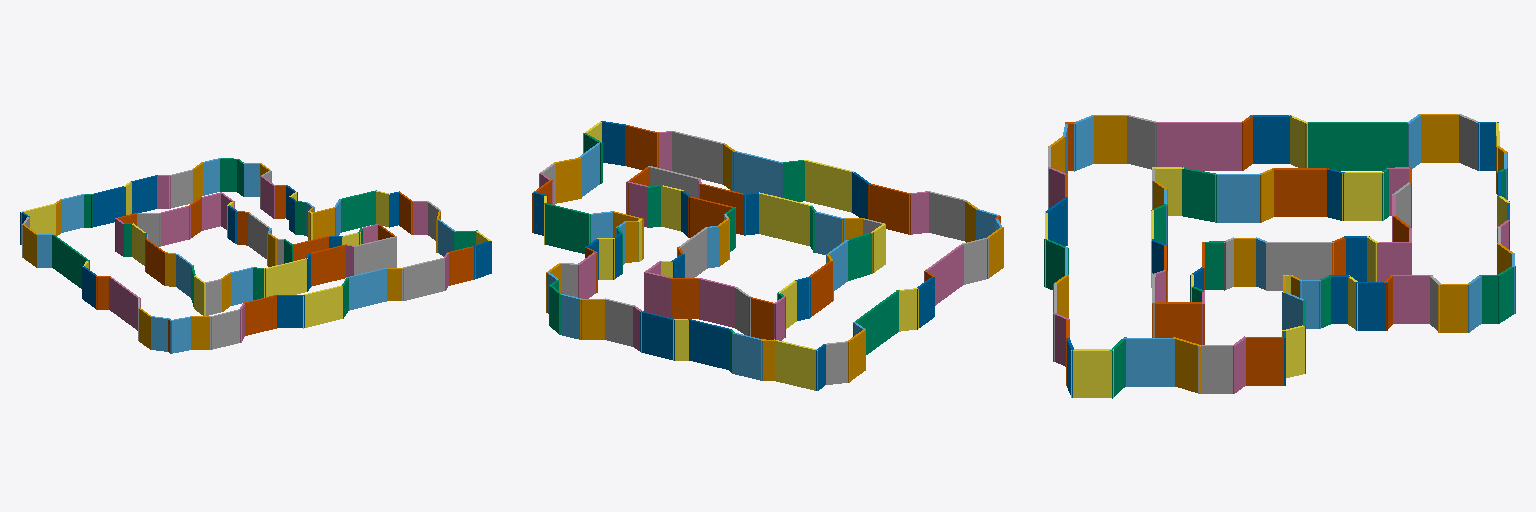
--- What the picture shows (computed from the rendered views, not written in the file) ---
3 views of the same robot in one strip: view 1: azimuth 30°, elevation 25°; view 2: azimuth 150°, elevation 25°; view 3: azimuth 270°, elevation 25° (orthographic).
Robot: custom_hallway — 102 links, 101 joints (101 fixed); root link custom_hallway__Wall_100; default pose: all joints at 0.
Visible links, largest first — view 1: custom_hallway__Wall_136, custom_hallway__Wall_115, custom_hallway__Wall_140, custom_hallway__Wall_138, custom_hallway__Wall_119, custom_hallway__Wall_123, custom_hallway__Wall_117, custom_hallway__Wall_78, custom_hallway__Wall_87, custom_hallway__Wall_142, custom_hallway__Wall_61, custom_hallway__Wall_144 (+23 smaller); view 2: custom_hallway__Wall_115, custom_hallway__Wall_136, custom_hallway__Wall_140, custom_hallway__Wall_138, custom_hallway__Wall_123, custom_hallway__Wall_76, custom_hallway__Wall_78, custom_hallway__Wall_142, custom_hallway__Wall_87, custom_hallway__Wall_144, custom_hallway__Wall_61, custom_hallway__Wall_69 (+28 smaller); view 3: custom_hallway__Wall_87, custom_hallway__Wall_91, custom_hallway__Wall_99, custom_hallway__Wall_41, custom_hallway__Wall_130, custom_hallway__Wall_101, custom_hallway__Wall_132, custom_hallway__Wall_97, custom_hallway__Wall_7, custom_hallway__Wall_85, custom_hallway__Wall_126, custom_hallway__Wall_50 (+28 smaller).
Boxes of the visible links, left/top/right/bottom form: custom_hallway__Wall_136: left=402, top=258, right=444, bottom=300; custom_hallway__Wall_115: left=264, top=258, right=307, bottom=297; custom_hallway__Wall_140: left=303, top=285, right=342, bottom=328; custom_hallway__Wall_138: left=346, top=268, right=386, bottom=310; custom_hallway__Wall_119: left=353, top=236, right=396, bottom=274; custom_hallway__Wall_123: left=339, top=190, right=376, bottom=232; custom_hallway__Wall_117: left=311, top=244, right=346, bottom=286; custom_hallway__Wall_78: left=91, top=186, right=125, bottom=227; custom_hallway__Wall_87: left=52, top=235, right=89, bottom=288; custom_hallway__Wall_142: left=244, top=295, right=276, bottom=335; custom_hallway__Wall_61: left=159, top=206, right=190, bottom=246; custom_hallway__Wall_144: left=210, top=309, right=241, bottom=349; custom_hallway__Wall_115: left=759, top=192, right=812, bottom=245; custom_hallway__Wall_136: left=672, top=131, right=724, bottom=184; custom_hallway__Wall_140: left=804, top=160, right=853, bottom=212; custom_hallway__Wall_138: left=732, top=151, right=782, bottom=197; custom_hallway__Wall_123: left=544, top=203, right=590, bottom=253; custom_hallway__Wall_76: left=774, top=339, right=817, bottom=390; custom_hallway__Wall_78: left=688, top=319, right=731, bottom=369; custom_hallway__Wall_142: left=868, top=184, right=911, bottom=234; custom_hallway__Wall_87: left=853, top=290, right=899, bottom=354; custom_hallway__Wall_144: left=928, top=191, right=966, bottom=240; custom_hallway__Wall_61: left=698, top=278, right=736, bottom=327; custom_hallway__Wall_69: left=640, top=311, right=674, bottom=360; custom_hallway__Wall_87: left=1305, top=122, right=1407, bottom=170; custom_hallway__Wall_91: left=1155, top=122, right=1241, bottom=170; custom_hallway__Wall_99: left=1272, top=168, right=1328, bottom=216; custom_hallway__Wall_41: left=1266, top=242, right=1333, bottom=290; custom_hallway__Wall_130: left=1123, top=338, right=1174, bottom=386; custom_hallway__Wall_101: left=1215, top=174, right=1261, bottom=222; custom_hallway__Wall_132: left=1071, top=349, right=1113, bottom=397; custom_hallway__Wall_97: left=1342, top=172, right=1383, bottom=220; custom_hallway__Wall_7: left=1152, top=302, right=1204, bottom=344; custom_hallway__Wall_85: left=1419, top=114, right=1458, bottom=162; custom_hallway__Wall_126: left=1246, top=337, right=1283, bottom=385; custom_hallway__Wall_50: left=1391, top=275, right=1432, bottom=323.
Size in the robot's own frame: 26.75 by 22.42 by 2.5 metres.
Geometry: primitives only (box / cylinder / sphere), no mesh files.

URDF robot description (custom_hallway):
<?xml version="1.0" ?>
<robot name="custom_hallway">
  <link name="custom_hallway__Wall_100">
    <inertial>
      <mass value="0"/>
      <origin rpy="0  0  0" xyz="0  0  0"/>
      <inertia ixx="0" ixy="0" ixz="0" iyy="0" iyz="0" izz="0"/>
    </inertial>
    <collision name="custom_hallway__Wall_100_Collision">
      <origin rpy="0       0      -0.78539" xyz="-9.07255 -3.12646  1.25"/>
      <geometry>
        <box size="1 0.15 2.5"/>
      </geometry>
    </collision>
    <visual name="custom_hallway__Wall_100_Visual">
      <origin rpy="0       0      -0.78539" xyz="-9.07255 -3.12646  1.25"/>
      <geometry>
        <box size="1 0.15 2.5"/>
      </geometry>
    </visual>
  </link>
  <link name="custom_hallway__Wall_101">
    <inertial>
      <mass value="0"/>
      <origin rpy="0  0  0" xyz="0  0  0"/>
      <inertia ixx="0" ixy="0" ixz="0" iyy="0" iyz="0" izz="0"/>
    </inertial>
    <collision name="custom_hallway__Wall_101_Collision">
      <origin rpy="0      0     -1.5708" xyz="-8.77204 -4.47698  1.25"/>
      <geometry>
        <box size="2.25 0.15 2.5"/>
      </geometry>
    </collision>
    <visual name="custom_hallway__Wall_101_Visual">
      <origin rpy="0      0     -1.5708" xyz="-8.77204 -4.47698  1.25"/>
      <geometry>
        <box size="2.25 0.15 2.5"/>
      </geometry>
    </visual>
  </link>
  <link name="custom_hallway__Wall_102">
    <inertial>
      <mass value="0"/>
      <origin rpy="0  0  0" xyz="0  0  0"/>
      <inertia ixx="0" ixy="0" ixz="0" iyy="0" iyz="0" izz="0"/>
    </inertial>
    <collision name="custom_hallway__Wall_102_Collision">
      <origin rpy="0       0      -1.98351" xyz="-9.12803 -6.34003  1.25"/>
      <geometry>
        <box size="1.92514 0.15 2.5"/>
      </geometry>
    </collision>
    <visual name="custom_hallway__Wall_102_Visual">
      <origin rpy="0       0      -1.98351" xyz="-9.12803 -6.34003  1.25"/>
      <geometry>
        <box size="1.92514 0.15 2.5"/>
      </geometry>
    </visual>
  </link>
  <link name="custom_hallway__Wall_103">
    <inertial>
      <mass value="0"/>
      <origin rpy="0  0  0" xyz="0  0  0"/>
      <inertia ixx="0" ixy="0" ixz="0" iyy="0" iyz="0" izz="0"/>
    </inertial>
    <collision name="custom_hallway__Wall_103_Collision">
      <origin rpy="0      0     -1.5708" xyz="-9.48403 -7.82807  1.25"/>
      <geometry>
        <box size="1.5 0.15 2.5"/>
      </geometry>
    </collision>
    <visual name="custom_hallway__Wall_103_Visual">
      <origin rpy="0      0     -1.5708" xyz="-9.48403 -7.82807  1.25"/>
      <geometry>
        <box size="1.5 0.15 2.5"/>
      </geometry>
    </visual>
  </link>
  <link name="custom_hallway__Wall_105">
    <inertial>
      <mass value="0"/>
      <origin rpy="0  0  0" xyz="0  0  0"/>
      <inertia ixx="0" ixy="0" ixz="0" iyy="0" iyz="0" izz="0"/>
    </inertial>
    <collision name="custom_hallway__Wall_105_Collision">
      <origin rpy="0       0      -1.54263" xyz="-14.58992   7.41998   1.25"/>
      <geometry>
        <box size="1.02334 0.15 2.5"/>
      </geometry>
    </collision>
    <visual name="custom_hallway__Wall_105_Visual">
      <origin rpy="0       0      -1.54263" xyz="-14.58992   7.41998   1.25"/>
      <geometry>
        <box size="1.02334 0.15 2.5"/>
      </geometry>
    </visual>
  </link>
  <link name="custom_hallway__Wall_107">
    <inertial>
      <mass value="0"/>
      <origin rpy="0  0  0" xyz="0  0  0"/>
      <inertia ixx="0" ixy="0" ixz="0" iyy="0" iyz="0" izz="0"/>
    </inertial>
    <collision name="custom_hallway__Wall_107_Collision">
      <origin rpy="0      0      1.5708" xyz="-14.54872 -12.46056   1.25"/>
      <geometry>
        <box size="0.5 0.15 2.5"/>
      </geometry>
    </collision>
    <visual name="custom_hallway__Wall_107_Visual">
      <origin rpy="0      0      1.5708" xyz="-14.54872 -12.46056   1.25"/>
      <geometry>
        <box size="0.5 0.15 2.5"/>
      </geometry>
    </visual>
  </link>
  <link name="custom_hallway__Wall_109">
    <inertial>
      <mass value="0"/>
      <origin rpy="0  0  0" xyz="0  0  0"/>
      <inertia ixx="0" ixy="0" ixz="0" iyy="0" iyz="0" izz="0"/>
    </inertial>
    <collision name="custom_hallway__Wall_109_Collision">
      <origin rpy="0       0      -1.55503" xyz="-9.47586  3.17856  1.25"/>
      <geometry>
        <box size="1.18687 0.15 2.5"/>
      </geometry>
    </collision>
    <visual name="custom_hallway__Wall_109_Visual">
      <origin rpy="0       0      -1.55503" xyz="-9.47586  3.17856  1.25"/>
      <geometry>
        <box size="1.18687 0.15 2.5"/>
      </geometry>
    </visual>
  </link>
  <link name="custom_hallway__Wall_111">
    <inertial>
      <mass value="0"/>
      <origin rpy="0  0  0" xyz="0  0  0"/>
      <inertia ixx="0" ixy="0" ixz="0" iyy="0" iyz="0" izz="0"/>
    </inertial>
    <collision name="custom_hallway__Wall_111_Collision">
      <origin rpy="0  0  0" xyz="-8.80903 -8.50306  1.25"/>
      <geometry>
        <box size="1.5 0.15 2.5"/>
      </geometry>
    </collision>
    <visual name="custom_hallway__Wall_111_Visual">
      <origin rpy="0  0  0" xyz="-8.80903 -8.50306  1.25"/>
      <geometry>
        <box size="1.5 0.15 2.5"/>
      </geometry>
    </visual>
  </link>
  <link name="custom_hallway__Wall_112">
    <inertial>
      <mass value="0"/>
      <origin rpy="0  0  0" xyz="0  0  0"/>
      <inertia ixx="0" ixy="0" ixz="0" iyy="0" iyz="0" izz="0"/>
    </inertial>
    <collision name="custom_hallway__Wall_112_Collision">
      <origin rpy="0       0       0.52359" xyz="-7.65772 -8.22807  1.25"/>
      <geometry>
        <box size="1.25 0.15 2.5"/>
      </geometry>
    </collision>
    <visual name="custom_hallway__Wall_112_Visual">
      <origin rpy="0       0       0.52359" xyz="-7.65772 -8.22807  1.25"/>
      <geometry>
        <box size="1.25 0.15 2.5"/>
      </geometry>
    </visual>
  </link>
  <link name="custom_hallway__Wall_113">
    <inertial>
      <mass value="0"/>
      <origin rpy="0  0  0" xyz="0  0  0"/>
      <inertia ixx="0" ixy="0" ixz="0" iyy="0" iyz="0" izz="0"/>
    </inertial>
    <collision name="custom_hallway__Wall_113_Collision">
      <origin rpy="0  0  0" xyz="-6.2564  -7.95307  1.25"/>
      <geometry>
        <box size="2 0.15 2.5"/>
      </geometry>
    </collision>
    <visual name="custom_hallway__Wall_113_Visual">
      <origin rpy="0  0  0" xyz="-6.2564  -7.95307  1.25"/>
      <geometry>
        <box size="2 0.15 2.5"/>
      </geometry>
    </visual>
  </link>
  <link name="custom_hallway__Wall_114">
    <inertial>
      <mass value="0"/>
      <origin rpy="0  0  0" xyz="0  0  0"/>
      <inertia ixx="0" ixy="0" ixz="0" iyy="0" iyz="0" izz="0"/>
    </inertial>
    <collision name="custom_hallway__Wall_114_Collision">
      <origin rpy="0       0      -0.78539" xyz="-5.03089 -8.25359  1.25"/>
      <geometry>
        <box size="1 0.15 2.5"/>
      </geometry>
    </collision>
    <visual name="custom_hallway__Wall_114_Visual">
      <origin rpy="0       0      -0.78539" xyz="-5.03089 -8.25359  1.25"/>
      <geometry>
        <box size="1 0.15 2.5"/>
      </geometry>
    </visual>
  </link>
  <link name="custom_hallway__Wall_115">
    <inertial>
      <mass value="0"/>
      <origin rpy="0  0  0" xyz="0  0  0"/>
      <inertia ixx="0" ixy="0" ixz="0" iyy="0" iyz="0" izz="0"/>
    </inertial>
    <collision name="custom_hallway__Wall_115_Collision">
      <origin rpy="0  0  0" xyz="-3.05536 -8.55411  1.25"/>
      <geometry>
        <box size="3.5 0.15 2.5"/>
      </geometry>
    </collision>
    <visual name="custom_hallway__Wall_115_Visual">
      <origin rpy="0  0  0" xyz="-3.05536 -8.55411  1.25"/>
      <geometry>
        <box size="3.5 0.15 2.5"/>
      </geometry>
    </visual>
  </link>
  <link name="custom_hallway__Wall_116">
    <inertial>
      <mass value="0"/>
      <origin rpy="0  0  0" xyz="0  0  0"/>
      <inertia ixx="0" ixy="0" ixz="0" iyy="0" iyz="0" izz="0"/>
    </inertial>
    <collision name="custom_hallway__Wall_116_Collision">
      <origin rpy="0       0       0.78539" xyz="-1.07983 -8.25359  1.25"/>
      <geometry>
        <box size="1 0.15 2.5"/>
      </geometry>
    </collision>
    <visual name="custom_hallway__Wall_116_Visual">
      <origin rpy="0       0       0.78539" xyz="-1.07983 -8.25359  1.25"/>
      <geometry>
        <box size="1 0.15 2.5"/>
      </geometry>
    </visual>
  </link>
  <link name="custom_hallway__Wall_117">
    <inertial>
      <mass value="0"/>
      <origin rpy="0  0  0" xyz="0  0  0"/>
      <inertia ixx="0" ixy="0" ixz="0" iyy="0" iyz="0" izz="0"/>
    </inertial>
    <collision name="custom_hallway__Wall_117_Collision">
      <origin rpy="0  0  0" xyz="0.64568 -7.95307  1.25"/>
      <geometry>
        <box size="3 0.15 2.5"/>
      </geometry>
    </collision>
    <visual name="custom_hallway__Wall_117_Visual">
      <origin rpy="0  0  0" xyz="0.64568 -7.95307  1.25"/>
      <geometry>
        <box size="3 0.15 2.5"/>
      </geometry>
    </visual>
  </link>
  <link name="custom_hallway__Wall_118">
    <inertial>
      <mass value="0"/>
      <origin rpy="0  0  0" xyz="0  0  0"/>
      <inertia ixx="0" ixy="0" ixz="0" iyy="0" iyz="0" izz="0"/>
    </inertial>
    <collision name="custom_hallway__Wall_118_Collision">
      <origin rpy="0       0      -0.92384" xyz="2.26694 -8.21288  1.25"/>
      <geometry>
        <box size="0.80121 0.15 2.5"/>
      </geometry>
    </collision>
    <visual name="custom_hallway__Wall_118_Visual">
      <origin rpy="0       0      -0.92384" xyz="2.26694 -8.21288  1.25"/>
      <geometry>
        <box size="0.80121 0.15 2.5"/>
      </geometry>
    </visual>
  </link>
  <link name="custom_hallway__Wall_119">
    <inertial>
      <mass value="0"/>
      <origin rpy="0  0  0" xyz="0  0  0"/>
      <inertia ixx="0" ixy="0" ixz="0" iyy="0" iyz="0" izz="0"/>
    </inertial>
    <collision name="custom_hallway__Wall_119_Collision">
      <origin rpy="0       0      -0.00936" xyz="4.08584 -8.51101  1.25"/>
      <geometry>
        <box size="3.39543 0.15 2.5"/>
      </geometry>
    </collision>
    <visual name="custom_hallway__Wall_119_Visual">
      <origin rpy="0       0      -0.00936" xyz="4.08584 -8.51101  1.25"/>
      <geometry>
        <box size="3.39543 0.15 2.5"/>
      </geometry>
    </visual>
  </link>
  <link name="custom_hallway__Wall_121">
    <inertial>
      <mass value="0"/>
      <origin rpy="0  0  0" xyz="0  0  0"/>
      <inertia ixx="0" ixy="0" ixz="0" iyy="0" iyz="0" izz="0"/>
    </inertial>
    <collision name="custom_hallway__Wall_121_Collision">
      <origin rpy="0  0  0" xyz="3.54097 -2.30307  1.25"/>
      <geometry>
        <box size="2 0.15 2.5"/>
      </geometry>
    </collision>
    <visual name="custom_hallway__Wall_121_Visual">
      <origin rpy="0  0  0" xyz="3.54097 -2.30307  1.25"/>
      <geometry>
        <box size="2 0.15 2.5"/>
      </geometry>
    </visual>
  </link>
  <link name="custom_hallway__Wall_122">
    <inertial>
      <mass value="0"/>
      <origin rpy="0  0  0" xyz="0  0  0"/>
      <inertia ixx="0" ixy="0" ixz="0" iyy="0" iyz="0" izz="0"/>
    </inertial>
    <collision name="custom_hallway__Wall_122_Collision">
      <origin rpy="0       0       0.78539" xyz="4.94326 -1.82577  1.25"/>
      <geometry>
        <box size="1.5 0.15 2.5"/>
      </geometry>
    </collision>
    <visual name="custom_hallway__Wall_122_Visual">
      <origin rpy="0       0       0.78539" xyz="4.94326 -1.82577  1.25"/>
      <geometry>
        <box size="1.5 0.15 2.5"/>
      </geometry>
    </visual>
  </link>
  <link name="custom_hallway__Wall_123">
    <inertial>
      <mass value="0"/>
      <origin rpy="0  0  0" xyz="0  0  0"/>
      <inertia ixx="0" ixy="0" ixz="0" iyy="0" iyz="0" izz="0"/>
    </inertial>
    <collision name="custom_hallway__Wall_123_Collision">
      <origin rpy="0  0  0" xyz="6.84556 -1.34848  1.25"/>
      <geometry>
        <box size="3 0.15 2.5"/>
      </geometry>
    </collision>
    <visual name="custom_hallway__Wall_123_Visual">
      <origin rpy="0  0  0" xyz="6.84556 -1.34848  1.25"/>
      <geometry>
        <box size="3 0.15 2.5"/>
      </geometry>
    </visual>
  </link>
  <link name="custom_hallway__Wall_124">
    <inertial>
      <mass value="0"/>
      <origin rpy="0  0  0" xyz="0  0  0"/>
      <inertia ixx="0" ixy="0" ixz="0" iyy="0" iyz="0" izz="0"/>
    </inertial>
    <collision name="custom_hallway__Wall_124_Collision">
      <origin rpy="0       0      -1.04719" xyz="8.54557 -1.82479  1.25"/>
      <geometry>
        <box size="1.25 0.15 2.5"/>
      </geometry>
    </collision>
    <visual name="custom_hallway__Wall_124_Visual">
      <origin rpy="0       0      -1.04719" xyz="8.54557 -1.82479  1.25"/>
      <geometry>
        <box size="1.25 0.15 2.5"/>
      </geometry>
    </visual>
  </link>
  <link name="custom_hallway__Wall_125">
    <inertial>
      <mass value="0"/>
      <origin rpy="0  0  0" xyz="0  0  0"/>
      <inertia ixx="0" ixy="0" ixz="0" iyy="0" iyz="0" izz="0"/>
    </inertial>
    <collision name="custom_hallway__Wall_125_Collision">
      <origin rpy="0       0      -0.00263" xyz="9.19328 -2.30208  1.25"/>
      <geometry>
        <box size="0.895408 0.15 2.5"/>
      </geometry>
    </collision>
    <visual name="custom_hallway__Wall_125_Visual">
      <origin rpy="0       0      -0.00263" xyz="9.19328 -2.30208  1.25"/>
      <geometry>
        <box size="0.895408 0.15 2.5"/>
      </geometry>
    </visual>
  </link>
  <link name="custom_hallway__Wall_126">
    <inertial>
      <mass value="0"/>
      <origin rpy="0  0  0" xyz="0  0  0"/>
      <inertia ixx="0" ixy="0" ixz="0" iyy="0" iyz="0" izz="0"/>
    </inertial>
    <collision name="custom_hallway__Wall_126_Collision">
      <origin rpy="0      0     -1.5708" xyz="9.56598 -3.22807  1.25"/>
      <geometry>
        <box size="2 0.15 2.5"/>
      </geometry>
    </collision>
    <visual name="custom_hallway__Wall_126_Visual">
      <origin rpy="0      0     -1.5708" xyz="9.56598 -3.22807  1.25"/>
      <geometry>
        <box size="2 0.15 2.5"/>
      </geometry>
    </visual>
  </link>
  <link name="custom_hallway__Wall_127">
    <inertial>
      <mass value="0"/>
      <origin rpy="0  0  0" xyz="0  0  0"/>
      <inertia ixx="0" ixy="0" ixz="0" iyy="0" iyz="0" izz="0"/>
    </inertial>
    <collision name="custom_hallway__Wall_127_Collision">
      <origin rpy="0       0      -0.52359" xyz="10.04228  -4.42807   1.25"/>
      <geometry>
        <box size="1.25 0.15 2.5"/>
      </geometry>
    </collision>
    <visual name="custom_hallway__Wall_127_Visual">
      <origin rpy="0       0      -0.52359" xyz="10.04228  -4.42807   1.25"/>
      <geometry>
        <box size="1.25 0.15 2.5"/>
      </geometry>
    </visual>
  </link>
  <link name="custom_hallway__Wall_128">
    <inertial>
      <mass value="0"/>
      <origin rpy="0  0  0" xyz="0  0  0"/>
      <inertia ixx="0" ixy="0" ixz="0" iyy="0" iyz="0" izz="0"/>
    </inertial>
    <collision name="custom_hallway__Wall_128_Collision">
      <origin rpy="0      0     -1.5708" xyz="10.51858  -5.50307   1.25"/>
      <geometry>
        <box size="1.75 0.15 2.5"/>
      </geometry>
    </collision>
    <visual name="custom_hallway__Wall_128_Visual">
      <origin rpy="0      0     -1.5708" xyz="10.51858  -5.50307   1.25"/>
      <geometry>
        <box size="1.75 0.15 2.5"/>
      </geometry>
    </visual>
  </link>
  <link name="custom_hallway__Wall_129">
    <inertial>
      <mass value="0"/>
      <origin rpy="0  0  0" xyz="0  0  0"/>
      <inertia ixx="0" ixy="0" ixz="0" iyy="0" iyz="0" izz="0"/>
    </inertial>
    <collision name="custom_hallway__Wall_129_Collision">
      <origin rpy="0      0     -2.1995" xyz="10.07408  -6.91439   1.25"/>
      <geometry>
        <box size="1.66168 0.15 2.5"/>
      </geometry>
    </collision>
    <visual name="custom_hallway__Wall_129_Visual">
      <origin rpy="0      0     -2.1995" xyz="10.07408  -6.91439   1.25"/>
      <geometry>
        <box size="1.66168 0.15 2.5"/>
      </geometry>
    </visual>
  </link>
  <link name="custom_hallway__Wall_130">
    <inertial>
      <mass value="0"/>
      <origin rpy="0  0  0" xyz="0  0  0"/>
      <inertia ixx="0" ixy="0" ixz="0" iyy="0" iyz="0" izz="0"/>
    </inertial>
    <collision name="custom_hallway__Wall_130_Collision">
      <origin rpy="0      0     -1.5708" xyz="9.68308 -8.70071  1.25"/>
      <geometry>
        <box size="2.5 0.15 2.5"/>
      </geometry>
    </collision>
    <visual name="custom_hallway__Wall_130_Visual">
      <origin rpy="0      0     -1.5708" xyz="9.68308 -8.70071  1.25"/>
      <geometry>
        <box size="2.5 0.15 2.5"/>
      </geometry>
    </visual>
  </link>
  <link name="custom_hallway__Wall_131">
    <inertial>
      <mass value="0"/>
      <origin rpy="0  0  0" xyz="0  0  0"/>
      <inertia ixx="0" ixy="0" ixz="0" iyy="0" iyz="0" izz="0"/>
    </inertial>
    <collision name="custom_hallway__Wall_131_Collision">
      <origin rpy="0      0     -0.4223" xyz="10.32118 -10.18646   1.25"/>
      <geometry>
        <box size="1.66636 0.15 2.5"/>
      </geometry>
    </collision>
    <visual name="custom_hallway__Wall_131_Visual">
      <origin rpy="0      0     -0.4223" xyz="10.32118 -10.18646   1.25"/>
      <geometry>
        <box size="1.66636 0.15 2.5"/>
      </geometry>
    </visual>
  </link>
  <link name="custom_hallway__Wall_132">
    <inertial>
      <mass value="0"/>
      <origin rpy="0  0  0" xyz="0  0  0"/>
      <inertia ixx="0" ixy="0" ixz="0" iyy="0" iyz="0" izz="0"/>
    </inertial>
    <collision name="custom_hallway__Wall_132_Collision">
      <origin rpy="0      0     -1.5708" xyz="11.01268 -11.42221   1.25"/>
      <geometry>
        <box size="2 0.15 2.5"/>
      </geometry>
    </collision>
    <visual name="custom_hallway__Wall_132_Visual">
      <origin rpy="0      0     -1.5708" xyz="11.01268 -11.42221   1.25"/>
      <geometry>
        <box size="2 0.15 2.5"/>
      </geometry>
    </visual>
  </link>
  <link name="custom_hallway__Wall_133">
    <inertial>
      <mass value="0"/>
      <origin rpy="0  0  0" xyz="0  0  0"/>
      <inertia ixx="0" ixy="0" ixz="0" iyy="0" iyz="0" izz="0"/>
    </inertial>
    <collision name="custom_hallway__Wall_133_Collision">
      <origin rpy="0       0      -2.96594" xyz="10.31438 -12.47115   1.25"/>
      <geometry>
        <box size="1.56859 0.15 2.5"/>
      </geometry>
    </collision>
    <visual name="custom_hallway__Wall_133_Visual">
      <origin rpy="0       0      -2.96594" xyz="10.31438 -12.47115   1.25"/>
      <geometry>
        <box size="1.56859 0.15 2.5"/>
      </geometry>
    </visual>
  </link>
  <link name="custom_hallway__Wall_134">
    <inertial>
      <mass value="0"/>
      <origin rpy="0  0  0" xyz="0  0  0"/>
      <inertia ixx="0" ixy="0" ixz="0" iyy="0" iyz="0" izz="0"/>
    </inertial>
    <collision name="custom_hallway__Wall_134_Collision">
      <origin rpy="0       0       3.14159" xyz="8.56598 -12.59506   1.25"/>
      <geometry>
        <box size="2.25 0.15 2.5"/>
      </geometry>
    </collision>
    <visual name="custom_hallway__Wall_134_Visual">
      <origin rpy="0       0       3.14159" xyz="8.56598 -12.59506   1.25"/>
      <geometry>
        <box size="2.25 0.15 2.5"/>
      </geometry>
    </visual>
  </link>
  <link name="custom_hallway__Wall_135">
    <inertial>
      <mass value="0"/>
      <origin rpy="0  0  0" xyz="0  0  0"/>
      <inertia ixx="0" ixy="0" ixz="0" iyy="0" iyz="0" izz="0"/>
    </inertial>
    <collision name="custom_hallway__Wall_135_Collision">
      <origin rpy="0       0      -2.35618" xyz="7.21545 -12.89566   1.25"/>
      <geometry>
        <box size="1 0.15 2.5"/>
      </geometry>
    </collision>
    <visual name="custom_hallway__Wall_135_Visual">
      <origin rpy="0       0      -2.35618" xyz="7.21545 -12.89566   1.25"/>
      <geometry>
        <box size="1 0.15 2.5"/>
      </geometry>
    </visual>
  </link>
  <link name="custom_hallway__Wall_136">
    <inertial>
      <mass value="0"/>
      <origin rpy="0  0  0" xyz="0  0  0"/>
      <inertia ixx="0" ixy="0" ixz="0" iyy="0" iyz="0" izz="0"/>
    </inertial>
    <collision name="custom_hallway__Wall_136_Collision">
      <origin rpy="0       0       3.14159" xyz="5.23993 -13.19616   1.25"/>
      <geometry>
        <box size="3.5 0.15 2.5"/>
      </geometry>
    </collision>
    <visual name="custom_hallway__Wall_136_Visual">
      <origin rpy="0       0       3.14159" xyz="5.23993 -13.19616   1.25"/>
      <geometry>
        <box size="3.5 0.15 2.5"/>
      </geometry>
    </visual>
  </link>
  <link name="custom_hallway__Wall_137">
    <inertial>
      <mass value="0"/>
      <origin rpy="0  0  0" xyz="0  0  0"/>
      <inertia ixx="0" ixy="0" ixz="0" iyy="0" iyz="0" izz="0"/>
    </inertial>
    <collision name="custom_hallway__Wall_137_Collision">
      <origin rpy="0       0       2.61798" xyz="3.08861 -12.92116   1.25"/>
      <geometry>
        <box size="1.25 0.15 2.5"/>
      </geometry>
    </collision>
    <visual name="custom_hallway__Wall_137_Visual">
      <origin rpy="0       0       2.61798" xyz="3.08861 -12.92116   1.25"/>
      <geometry>
        <box size="1.25 0.15 2.5"/>
      </geometry>
    </visual>
  </link>
  <link name="custom_hallway__Wall_138">
    <inertial>
      <mass value="0"/>
      <origin rpy="0  0  0" xyz="0  0  0"/>
      <inertia ixx="0" ixy="0" ixz="0" iyy="0" iyz="0" izz="0"/>
    </inertial>
    <collision name="custom_hallway__Wall_138_Collision">
      <origin rpy="0       0       3.14159" xyz="1.0623  -12.64616   1.25"/>
      <geometry>
        <box size="3.25 0.15 2.5"/>
      </geometry>
    </collision>
    <visual name="custom_hallway__Wall_138_Visual">
      <origin rpy="0       0       3.14159" xyz="1.0623  -12.64616   1.25"/>
      <geometry>
        <box size="3.25 0.15 2.5"/>
      </geometry>
    </visual>
  </link>
  <link name="custom_hallway__Wall_139">
    <inertial>
      <mass value="0"/>
      <origin rpy="0  0  0" xyz="0  0  0"/>
      <inertia ixx="0" ixy="0" ixz="0" iyy="0" iyz="0" izz="0"/>
    </inertial>
    <collision name="custom_hallway__Wall_139_Collision">
      <origin rpy="0       0      -2.35618" xyz="-0.965   -13.12346   1.25"/>
      <geometry>
        <box size="1.5 0.15 2.5"/>
      </geometry>
    </collision>
    <visual name="custom_hallway__Wall_139_Visual">
      <origin rpy="0       0      -2.35618" xyz="-0.965   -13.12346   1.25"/>
      <geometry>
        <box size="1.5 0.15 2.5"/>
      </geometry>
    </visual>
  </link>
  <link name="custom_hallway__Wall_140">
    <inertial>
      <mass value="0"/>
      <origin rpy="0  0  0" xyz="0  0  0"/>
      <inertia ixx="0" ixy="0" ixz="0" iyy="0" iyz="0" izz="0"/>
    </inertial>
    <collision name="custom_hallway__Wall_140_Collision">
      <origin rpy="0       0       3.14159" xyz="-2.99229 -13.60076   1.25"/>
      <geometry>
        <box size="3.25 0.15 2.5"/>
      </geometry>
    </collision>
    <visual name="custom_hallway__Wall_140_Visual">
      <origin rpy="0       0       3.14159" xyz="-2.99229 -13.60076   1.25"/>
      <geometry>
        <box size="3.25 0.15 2.5"/>
      </geometry>
    </visual>
  </link>
  <link name="custom_hallway__Wall_141">
    <inertial>
      <mass value="0"/>
      <origin rpy="0  0  0" xyz="0  0  0"/>
      <inertia ixx="0" ixy="0" ixz="0" iyy="0" iyz="0" izz="0"/>
    </inertial>
    <collision name="custom_hallway__Wall_141_Collision">
      <origin rpy="0       0       2.61798" xyz="-5.34337 -13.13826   1.25"/>
      <geometry>
        <box size="2 0.15 2.5"/>
      </geometry>
    </collision>
    <visual name="custom_hallway__Wall_141_Visual">
      <origin rpy="0       0       2.61798" xyz="-5.34337 -13.13826   1.25"/>
      <geometry>
        <box size="2 0.15 2.5"/>
      </geometry>
    </visual>
  </link>
  <link name="custom_hallway__Wall_142">
    <inertial>
      <mass value="0"/>
      <origin rpy="0  0  0" xyz="0  0  0"/>
      <inertia ixx="0" ixy="0" ixz="0" iyy="0" iyz="0" izz="0"/>
    </inertial>
    <collision name="custom_hallway__Wall_142_Collision">
      <origin rpy="0       0       3.14159" xyz="-7.44444 -12.67576   1.25"/>
      <geometry>
        <box size="2.75 0.15 2.5"/>
      </geometry>
    </collision>
    <visual name="custom_hallway__Wall_142_Visual">
      <origin rpy="0       0       3.14159" xyz="-7.44444 -12.67576   1.25"/>
      <geometry>
        <box size="2.75 0.15 2.5"/>
      </geometry>
    </visual>
  </link>
  <link name="custom_hallway__Wall_143">
    <inertial>
      <mass value="0"/>
      <origin rpy="0  0  0" xyz="0  0  0"/>
      <inertia ixx="0" ixy="0" ixz="0" iyy="0" iyz="0" izz="0"/>
    </inertial>
    <collision name="custom_hallway__Wall_143_Collision">
      <origin rpy="0       0      -2.35618" xyz="-9.13335 -13.06466   1.25"/>
      <geometry>
        <box size="1.25 0.15 2.5"/>
      </geometry>
    </collision>
    <visual name="custom_hallway__Wall_143_Visual">
      <origin rpy="0       0      -2.35618" xyz="-9.13335 -13.06466   1.25"/>
      <geometry>
        <box size="1.25 0.15 2.5"/>
      </geometry>
    </visual>
  </link>
  <link name="custom_hallway__Wall_144">
    <inertial>
      <mass value="0"/>
      <origin rpy="0  0  0" xyz="0  0  0"/>
      <inertia ixx="0" ixy="0" ixz="0" iyy="0" iyz="0" izz="0"/>
    </inertial>
    <collision name="custom_hallway__Wall_144_Collision">
      <origin rpy="0       0       3.14159" xyz="-10.69726 -13.45356   1.25"/>
      <geometry>
        <box size="2.5 0.15 2.5"/>
      </geometry>
    </collision>
    <visual name="custom_hallway__Wall_144_Visual">
      <origin rpy="0       0       3.14159" xyz="-10.69726 -13.45356   1.25"/>
      <geometry>
        <box size="2.5 0.15 2.5"/>
      </geometry>
    </visual>
  </link>
  <link name="custom_hallway__Wall_145">
    <inertial>
      <mass value="0"/>
      <origin rpy="0  0  0" xyz="0  0  0"/>
      <inertia ixx="0" ixy="0" ixz="0" iyy="0" iyz="0" izz="0"/>
    </inertial>
    <collision name="custom_hallway__Wall_145_Collision">
      <origin rpy="0       0       2.61798" xyz="-12.45682 -13.11606   1.25"/>
      <geometry>
        <box size="1.5 0.15 2.5"/>
      </geometry>
    </collision>
    <visual name="custom_hallway__Wall_145_Visual">
      <origin rpy="0       0       2.61798" xyz="-12.45682 -13.11606   1.25"/>
      <geometry>
        <box size="1.5 0.15 2.5"/>
      </geometry>
    </visual>
  </link>
  <link name="custom_hallway__Wall_147">
    <inertial>
      <mass value="0"/>
      <origin rpy="0  0  0" xyz="0  0  0"/>
      <inertia ixx="0" ixy="0" ixz="0" iyy="0" iyz="0" izz="0"/>
    </inertial>
    <collision name="custom_hallway__Wall_147_Collision">
      <origin rpy="0       0       3.04701" xyz="-13.79512 -12.70706   1.25"/>
      <geometry>
        <box size="1.66413 0.15 2.5"/>
      </geometry>
    </collision>
    <visual name="custom_hallway__Wall_147_Visual">
      <origin rpy="0       0       3.04701" xyz="-13.79512 -12.70706   1.25"/>
      <geometry>
        <box size="1.66413 0.15 2.5"/>
      </geometry>
    </visual>
  </link>
  <link name="custom_hallway__Wall_21">
    <inertial>
      <mass value="0"/>
      <origin rpy="0  0  0" xyz="0  0  0"/>
      <inertia ixx="0" ixy="0" ixz="0" iyy="0" iyz="0" izz="0"/>
    </inertial>
    <collision name="custom_hallway__Wall_21_Collision">
      <origin rpy="0       0      -2.32565" xyz="4.12281 -6.41156  1.25"/>
      <geometry>
        <box size="0.859757 0.15 2.5"/>
      </geometry>
    </collision>
    <visual name="custom_hallway__Wall_21_Visual">
      <origin rpy="0       0      -2.32565" xyz="4.12281 -6.41156  1.25"/>
      <geometry>
        <box size="0.859757 0.15 2.5"/>
      </geometry>
    </visual>
  </link>
  <link name="custom_hallway__Wall_22">
    <inertial>
      <mass value="0"/>
      <origin rpy="0  0  0" xyz="0  0  0"/>
      <inertia ixx="0" ixy="0" ixz="0" iyy="0" iyz="0" izz="0"/>
    </inertial>
    <collision name="custom_hallway__Wall_22_Collision">
      <origin rpy="0       0       3.14159" xyz="3.20466 -6.67004  1.25"/>
      <geometry>
        <box size="1.5 0.15 2.5"/>
      </geometry>
    </collision>
    <visual name="custom_hallway__Wall_22_Visual">
      <origin rpy="0       0       3.14159" xyz="3.20466 -6.67004  1.25"/>
      <geometry>
        <box size="1.5 0.15 2.5"/>
      </geometry>
    </visual>
  </link>
  <link name="custom_hallway__Wall_23">
    <inertial>
      <mass value="0"/>
      <origin rpy="0  0  0" xyz="0  0  0"/>
      <inertia ixx="0" ixy="0" ixz="0" iyy="0" iyz="0" izz="0"/>
    </inertial>
    <collision name="custom_hallway__Wall_23_Collision">
      <origin rpy="0       0       2.57559" xyz="2.12281 -6.41156  1.25"/>
      <geometry>
        <box size="1.11403 0.15 2.5"/>
      </geometry>
    </collision>
    <visual name="custom_hallway__Wall_23_Visual">
      <origin rpy="0       0       2.57559" xyz="2.12281 -6.41156  1.25"/>
      <geometry>
        <box size="1.11403 0.15 2.5"/>
      </geometry>
    </visual>
  </link>
  <link name="custom_hallway__Wall_25">
    <inertial>
      <mass value="0"/>
      <origin rpy="0  0  0" xyz="0  0  0"/>
      <inertia ixx="0" ixy="0" ixz="0" iyy="0" iyz="0" izz="0"/>
    </inertial>
    <collision name="custom_hallway__Wall_25_Collision">
      <origin rpy="0  0  0" xyz="0.29097 -6.15307  1.25"/>
      <geometry>
        <box size="3 0.15 2.5"/>
      </geometry>
    </collision>
    <visual name="custom_hallway__Wall_25_Visual">
      <origin rpy="0  0  0" xyz="0.29097 -6.15307  1.25"/>
      <geometry>
        <box size="3 0.15 2.5"/>
      </geometry>
    </visual>
  </link>
  <link name="custom_hallway__Wall_27">
    <inertial>
      <mass value="0"/>
      <origin rpy="0  0  0" xyz="0  0  0"/>
      <inertia ixx="0" ixy="0" ixz="0" iyy="0" iyz="0" izz="0"/>
    </inertial>
    <collision name="custom_hallway__Wall_27_Collision">
      <origin rpy="0  0  0" xyz="5.04097 -6.15307  1.25"/>
      <geometry>
        <box size="1.5 0.15 2.5"/>
      </geometry>
    </collision>
    <visual name="custom_hallway__Wall_27_Visual">
      <origin rpy="0  0  0" xyz="5.04097 -6.15307  1.25"/>
      <geometry>
        <box size="1.5 0.15 2.5"/>
      </geometry>
    </visual>
  </link>
  <link name="custom_hallway__Wall_29">
    <inertial>
      <mass value="0"/>
      <origin rpy="0  0  0" xyz="0  0  0"/>
      <inertia ixx="0" ixy="0" ixz="0" iyy="0" iyz="0" izz="0"/>
    </inertial>
    <collision name="custom_hallway__Wall_29_Collision">
      <origin rpy="0       0       2.35618" xyz="-1.36816 -4.91974  1.25"/>
      <geometry>
        <box size="0.75 0.15 2.5"/>
      </geometry>
    </collision>
    <visual name="custom_hallway__Wall_29_Visual">
      <origin rpy="0       0       2.35618" xyz="-1.36816 -4.91974  1.25"/>
      <geometry>
        <box size="0.75 0.15 2.5"/>
      </geometry>
    </visual>
  </link>
  <link name="custom_hallway__Wall_30">
    <inertial>
      <mass value="0"/>
      <origin rpy="0  0  0" xyz="0  0  0"/>
      <inertia ixx="0" ixy="0" ixz="0" iyy="0" iyz="0" izz="0"/>
    </inertial>
    <collision name="custom_hallway__Wall_30_Collision">
      <origin rpy="0      0      1.5708" xyz="-1.58029 -4.16521  1.25"/>
      <geometry>
        <box size="1.23479 0.15 2.5"/>
      </geometry>
    </collision>
    <visual name="custom_hallway__Wall_30_Visual">
      <origin rpy="0      0      1.5708" xyz="-1.58029 -4.16521  1.25"/>
      <geometry>
        <box size="1.23479 0.15 2.5"/>
      </geometry>
    </visual>
  </link>
  <link name="custom_hallway__Wall_31">
    <inertial>
      <mass value="0"/>
      <origin rpy="0  0  0" xyz="0  0  0"/>
      <inertia ixx="0" ixy="0" ixz="0" iyy="0" iyz="0" izz="0"/>
    </inertial>
    <collision name="custom_hallway__Wall_31_Collision">
      <origin rpy="0       0       0.81997" xyz="-1.34503 -3.35548  1.25"/>
      <geometry>
        <box size="0.83969 0.15 2.5"/>
      </geometry>
    </collision>
    <visual name="custom_hallway__Wall_31_Visual">
      <origin rpy="0       0       0.81997" xyz="-1.34503 -3.35548  1.25"/>
      <geometry>
        <box size="0.83969 0.15 2.5"/>
      </geometry>
    </visual>
  </link>
  <link name="custom_hallway__Wall_33">
    <inertial>
      <mass value="0"/>
      <origin rpy="0  0  0" xyz="0  0  0"/>
      <inertia ixx="0" ixy="0" ixz="0" iyy="0" iyz="0" izz="0"/>
    </inertial>
    <collision name="custom_hallway__Wall_33_Collision">
      <origin rpy="0       0       1.59234" xyz="-1.14503 -5.64247  1.25"/>
      <geometry>
        <box size="1.17143 0.15 2.5"/>
      </geometry>
    </collision>
    <visual name="custom_hallway__Wall_33_Visual">
      <origin rpy="0       0       1.59234" xyz="-1.14503 -5.64247  1.25"/>
      <geometry>
        <box size="1.17143 0.15 2.5"/>
      </geometry>
    </visual>
  </link>
  <link name="custom_hallway__Wall_35">
    <inertial>
      <mass value="0"/>
      <origin rpy="0  0  0" xyz="0  0  0"/>
      <inertia ixx="0" ixy="0" ixz="0" iyy="0" iyz="0" izz="0"/>
    </inertial>
    <collision name="custom_hallway__Wall_35_Collision">
      <origin rpy="0       0      -2.55428" xyz="-1.41091  1.8973   1.25"/>
      <geometry>
        <box size="0.870502 0.15 2.5"/>
      </geometry>
    </collision>
    <visual name="custom_hallway__Wall_35_Visual">
      <origin rpy="0       0      -2.55428" xyz="-1.41091  1.8973   1.25"/>
      <geometry>
        <box size="0.870502 0.15 2.5"/>
      </geometry>
    </visual>
  </link>
  <link name="custom_hallway__Wall_36">
    <inertial>
      <mass value="0"/>
      <origin rpy="0  0  0" xyz="0  0  0"/>
      <inertia ixx="0" ixy="0" ixz="0" iyy="0" iyz="0" izz="0"/>
    </inertial>
    <collision name="custom_hallway__Wall_36_Collision">
      <origin rpy="0      0     -1.5708" xyz="-1.7108   1.14768  1.25"/>
      <geometry>
        <box size="1.25 0.15 2.5"/>
      </geometry>
    </collision>
    <visual name="custom_hallway__Wall_36_Visual">
      <origin rpy="0      0     -1.5708" xyz="-1.7108   1.14768  1.25"/>
      <geometry>
        <box size="1.25 0.15 2.5"/>
      </geometry>
    </visual>
  </link>
  <link name="custom_hallway__Wall_37">
    <inertial>
      <mass value="0"/>
      <origin rpy="0  0  0" xyz="0  0  0"/>
      <inertia ixx="0" ixy="0" ixz="0" iyy="0" iyz="0" izz="0"/>
    </inertial>
    <collision name="custom_hallway__Wall_37_Collision">
      <origin rpy="0       0      -0.78539" xyz="-1.41028  0.29715  1.25"/>
      <geometry>
        <box size="1 0.15 2.5"/>
      </geometry>
    </collision>
    <visual name="custom_hallway__Wall_37_Visual">
      <origin rpy="0       0      -0.78539" xyz="-1.41028  0.29715  1.25"/>
      <geometry>
        <box size="1 0.15 2.5"/>
      </geometry>
    </visual>
  </link>
  <link name="custom_hallway__Wall_39">
    <inertial>
      <mass value="0"/>
      <origin rpy="0  0  0" xyz="0  0  0"/>
      <inertia ixx="0" ixy="0" ixz="0" iyy="0" iyz="0" izz="0"/>
    </inertial>
    <collision name="custom_hallway__Wall_39_Collision">
      <origin rpy="0      0      1.5708" xyz="-1.11103  2.89693  1.25"/>
      <geometry>
        <box size="1.75 0.15 2.5"/>
      </geometry>
    </collision>
    <visual name="custom_hallway__Wall_39_Visual">
      <origin rpy="0      0      1.5708" xyz="-1.11103  2.89693  1.25"/>
      <geometry>
        <box size="1.75 0.15 2.5"/>
      </geometry>
    </visual>
  </link>
  <link name="custom_hallway__Wall_41">
    <inertial>
      <mass value="0"/>
      <origin rpy="0  0  0" xyz="0  0  0"/>
      <inertia ixx="0" ixy="0" ixz="0" iyy="0" iyz="0" izz="0"/>
    </inertial>
    <collision name="custom_hallway__Wall_41_Collision">
      <origin rpy="0      0     -1.5708" xyz="-1.10976 -1.55336  1.25"/>
      <geometry>
        <box size="3.25 0.15 2.5"/>
      </geometry>
    </collision>
    <visual name="custom_hallway__Wall_41_Visual">
      <origin rpy="0      0     -1.5708" xyz="-1.10976 -1.55336  1.25"/>
      <geometry>
        <box size="3.25 0.15 2.5"/>
      </geometry>
    </visual>
  </link>
  <link name="custom_hallway__Wall_43">
    <inertial>
      <mass value="0"/>
      <origin rpy="0  0  0" xyz="0  0  0"/>
      <inertia ixx="0" ixy="0" ixz="0" iyy="0" iyz="0" izz="0"/>
    </inertial>
    <collision name="custom_hallway__Wall_43_Collision">
      <origin rpy="0       0       0.68069" xyz="2.9114  -1.71382  1.25"/>
      <geometry>
        <box size="0.910309 0.15 2.5"/>
      </geometry>
    </collision>
    <visual name="custom_hallway__Wall_43_Visual">
      <origin rpy="0       0       0.68069" xyz="2.9114  -1.71382  1.25"/>
      <geometry>
        <box size="0.910309 0.15 2.5"/>
      </geometry>
    </visual>
  </link>
  <link name="custom_hallway__Wall_44">
    <inertial>
      <mass value="0"/>
      <origin rpy="0  0  0" xyz="0  0  0"/>
      <inertia ixx="0" ixy="0" ixz="0" iyy="0" iyz="0" izz="0"/>
    </inertial>
    <collision name="custom_hallway__Wall_44_Collision">
      <origin rpy="0      0      1.5708" xyz="3.20683 -1.04958  1.25"/>
      <geometry>
        <box size="1 0.15 2.5"/>
      </geometry>
    </collision>
    <visual name="custom_hallway__Wall_44_Visual">
      <origin rpy="0      0      1.5708" xyz="3.20683 -1.04958  1.25"/>
      <geometry>
        <box size="1 0.15 2.5"/>
      </geometry>
    </visual>
  </link>
  <link name="custom_hallway__Wall_45">
    <inertial>
      <mass value="0"/>
      <origin rpy="0  0  0" xyz="0  0  0"/>
      <inertia ixx="0" ixy="0" ixz="0" iyy="0" iyz="0" izz="0"/>
    </inertial>
    <collision name="custom_hallway__Wall_45_Collision">
      <origin rpy="0       0       2.36001" xyz="2.93423 -0.35406  1.25"/>
      <geometry>
        <box size="0.9181 0.15 2.5"/>
      </geometry>
    </collision>
    <visual name="custom_hallway__Wall_45_Visual">
      <origin rpy="0       0       2.36001" xyz="2.93423 -0.35406  1.25"/>
      <geometry>
        <box size="0.9181 0.15 2.5"/>
      </geometry>
    </visual>
  </link>
  <link name="custom_hallway__Wall_47">
    <inertial>
      <mass value="0"/>
      <origin rpy="0  0  0" xyz="0  0  0"/>
      <inertia ixx="0" ixy="0" ixz="0" iyy="0" iyz="0" izz="0"/>
    </inertial>
    <collision name="custom_hallway__Wall_47_Collision">
      <origin rpy="0       0       0.52359" xyz="3.02969  0.97897  1.25"/>
      <geometry>
        <box size="1 0.15 2.5"/>
      </geometry>
    </collision>
    <visual name="custom_hallway__Wall_47_Visual">
      <origin rpy="0       0       0.52359" xyz="3.02969  0.97897  1.25"/>
      <geometry>
        <box size="1 0.15 2.5"/>
      </geometry>
    </visual>
  </link>
  <link name="custom_hallway__Wall_48">
    <inertial>
      <mass value="0"/>
      <origin rpy="0  0  0" xyz="0  0  0"/>
      <inertia ixx="0" ixy="0" ixz="0" iyy="0" iyz="0" izz="0"/>
    </inertial>
    <collision name="custom_hallway__Wall_48_Collision">
      <origin rpy="0      0      1.5708" xyz="3.39775  1.86647  1.25"/>
      <geometry>
        <box size="1.5 0.15 2.5"/>
      </geometry>
    </collision>
    <visual name="custom_hallway__Wall_48_Visual">
      <origin rpy="0      0      1.5708" xyz="3.39775  1.86647  1.25"/>
      <geometry>
        <box size="1.5 0.15 2.5"/>
      </geometry>
    </visual>
  </link>
  <link name="custom_hallway__Wall_49">
    <inertial>
      <mass value="0"/>
      <origin rpy="0  0  0" xyz="0  0  0"/>
      <inertia ixx="0" ixy="0" ixz="0" iyy="0" iyz="0" izz="0"/>
    </inertial>
    <collision name="custom_hallway__Wall_49_Collision">
      <origin rpy="0       0       2.77928" xyz="3.0172   2.68572  1.25"/>
      <geometry>
        <box size="0.963959 0.15 2.5"/>
      </geometry>
    </collision>
    <visual name="custom_hallway__Wall_49_Visual">
      <origin rpy="0       0       2.77928" xyz="3.0172   2.68572  1.25"/>
      <geometry>
        <box size="0.963959 0.15 2.5"/>
      </geometry>
    </visual>
  </link>
  <link name="custom_hallway__Wall_50">
    <inertial>
      <mass value="0"/>
      <origin rpy="0  0  0" xyz="0  0  0"/>
      <inertia ixx="0" ixy="0" ixz="0" iyy="0" iyz="0" izz="0"/>
    </inertial>
    <collision name="custom_hallway__Wall_50_Collision">
      <origin rpy="0      0      1.5708" xyz="2.64814  3.76647  1.25"/>
      <geometry>
        <box size="2 0.15 2.5"/>
      </geometry>
    </collision>
    <visual name="custom_hallway__Wall_50_Visual">
      <origin rpy="0      0      1.5708" xyz="2.64814  3.76647  1.25"/>
      <geometry>
        <box size="2 0.15 2.5"/>
      </geometry>
    </visual>
  </link>
  <link name="custom_hallway__Wall_51">
    <inertial>
      <mass value="0"/>
      <origin rpy="0  0  0" xyz="0  0  0"/>
      <inertia ixx="0" ixy="0" ixz="0" iyy="0" iyz="0" izz="0"/>
    </inertial>
    <collision name="custom_hallway__Wall_51_Collision">
      <origin rpy="0       0       0.41993" xyz="3.12545  4.89822  1.25"/>
      <geometry>
        <box size="1.22064 0.15 2.5"/>
      </geometry>
    </collision>
    <visual name="custom_hallway__Wall_51_Visual">
      <origin rpy="0       0       0.41993" xyz="3.12545  4.89822  1.25"/>
      <geometry>
        <box size="1.22064 0.15 2.5"/>
      </geometry>
    </visual>
  </link>
  <link name="custom_hallway__Wall_52">
    <inertial>
      <mass value="0"/>
      <origin rpy="0  0  0" xyz="0  0  0"/>
      <inertia ixx="0" ixy="0" ixz="0" iyy="0" iyz="0" izz="0"/>
    </inertial>
    <collision name="custom_hallway__Wall_52_Collision">
      <origin rpy="0      0      1.5708" xyz="3.61426  5.79147  1.25"/>
      <geometry>
        <box size="1.5 0.15 2.5"/>
      </geometry>
    </collision>
    <visual name="custom_hallway__Wall_52_Visual">
      <origin rpy="0      0      1.5708" xyz="3.61426  5.79147  1.25"/>
      <geometry>
        <box size="1.5 0.15 2.5"/>
      </geometry>
    </visual>
  </link>
  <link name="custom_hallway__Wall_53">
    <inertial>
      <mass value="0"/>
      <origin rpy="0  0  0" xyz="0  0  0"/>
      <inertia ixx="0" ixy="0" ixz="0" iyy="0" iyz="0" izz="0"/>
    </inertial>
    <collision name="custom_hallway__Wall_53_Collision">
      <origin rpy="0       0       2.61492" xyz="3.11511  6.7567   1.25"/>
      <geometry>
        <box size="1.30478 0.15 2.5"/>
      </geometry>
    </collision>
    <visual name="custom_hallway__Wall_53_Visual">
      <origin rpy="0       0       2.61492" xyz="3.11511  6.7567   1.25"/>
      <geometry>
        <box size="1.30478 0.15 2.5"/>
      </geometry>
    </visual>
  </link>
  <link name="custom_hallway__Wall_54">
    <inertial>
      <mass value="0"/>
      <origin rpy="0  0  0" xyz="0  0  0"/>
      <inertia ixx="0" ixy="0" ixz="0" iyy="0" iyz="0" izz="0"/>
    </inertial>
    <collision name="custom_hallway__Wall_54_Collision">
      <origin rpy="0      0      1.5708" xyz="2.61597  7.47193  1.25"/>
      <geometry>
        <box size="1 0.15 2.5"/>
      </geometry>
    </collision>
    <visual name="custom_hallway__Wall_54_Visual">
      <origin rpy="0      0      1.5708" xyz="2.61597  7.47193  1.25"/>
      <geometry>
        <box size="1 0.15 2.5"/>
      </geometry>
    </visual>
  </link>
  <link name="custom_hallway__Wall_56">
    <inertial>
      <mass value="0"/>
      <origin rpy="0  0  0" xyz="0  0  0"/>
      <inertia ixx="0" ixy="0" ixz="0" iyy="0" iyz="0" izz="0"/>
    </inertial>
    <collision name="custom_hallway__Wall_56_Collision">
      <origin rpy="0      0      1.5708" xyz="2.61597 -2.12807  1.25"/>
      <geometry>
        <box size="0.5 0.15 2.5"/>
      </geometry>
    </collision>
    <visual name="custom_hallway__Wall_56_Visual">
      <origin rpy="0      0      1.5708" xyz="2.61597 -2.12807  1.25"/>
      <geometry>
        <box size="0.5 0.15 2.5"/>
      </geometry>
    </visual>
  </link>
  <link name="custom_hallway__Wall_58">
    <inertial>
      <mass value="0"/>
      <origin rpy="0  0  0" xyz="0  0  0"/>
      <inertia ixx="0" ixy="0" ixz="0" iyy="0" iyz="0" izz="0"/>
    </inertial>
    <collision name="custom_hallway__Wall_58_Collision">
      <origin rpy="0      0      1.5708" xyz="2.66163  0.34147  1.25"/>
      <geometry>
        <box size="1 0.15 2.5"/>
      </geometry>
    </collision>
    <visual name="custom_hallway__Wall_58_Visual">
      <origin rpy="0      0      1.5708" xyz="2.66163  0.34147  1.25"/>
      <geometry>
        <box size="1 0.15 2.5"/>
      </geometry>
    </visual>
  </link>
  <link name="custom_hallway__Wall_60">
    <inertial>
      <mass value="0"/>
      <origin rpy="0  0  0" xyz="0  0  0"/>
      <inertia ixx="0" ixy="0" ixz="0" iyy="0" iyz="0" izz="0"/>
    </inertial>
    <collision name="custom_hallway__Wall_60_Collision">
      <origin rpy="0       0      -2.64686" xyz="-3.42421  3.31218  1.25"/>
      <geometry>
        <box size="1.77067 0.15 2.5"/>
      </geometry>
    </collision>
    <visual name="custom_hallway__Wall_60_Visual">
      <origin rpy="0       0      -2.64686" xyz="-3.42421  3.31218  1.25"/>
      <geometry>
        <box size="1.77067 0.15 2.5"/>
      </geometry>
    </visual>
  </link>
  <link name="custom_hallway__Wall_61">
    <inertial>
      <mass value="0"/>
      <origin rpy="0  0  0" xyz="0  0  0"/>
      <inertia ixx="0" ixy="0" ixz="0" iyy="0" iyz="0" izz="0"/>
    </inertial>
    <collision name="custom_hallway__Wall_61_Collision">
      <origin rpy="0       0       3.14159" xyz="-5.31238  2.92743  1.25"/>
      <geometry>
        <box size="2.5 0.15 2.5"/>
      </geometry>
    </collision>
    <visual name="custom_hallway__Wall_61_Visual">
      <origin rpy="0       0       3.14159" xyz="-5.31238  2.92743  1.25"/>
      <geometry>
        <box size="2.5 0.15 2.5"/>
      </geometry>
    </visual>
  </link>
  <link name="custom_hallway__Wall_62">
    <inertial>
      <mass value="0"/>
      <origin rpy="0  0  0" xyz="0  0  0"/>
      <inertia ixx="0" ixy="0" ixz="0" iyy="0" iyz="0" izz="0"/>
    </inertial>
    <collision name="custom_hallway__Wall_62_Collision">
      <origin rpy="0       0       2.63802" xyz="-7.18571  3.31218  1.25"/>
      <geometry>
        <box size="1.7446 0.15 2.5"/>
      </geometry>
    </collision>
    <visual name="custom_hallway__Wall_62_Visual">
      <origin rpy="0       0       2.63802" xyz="-7.18571  3.31218  1.25"/>
      <geometry>
        <box size="1.7446 0.15 2.5"/>
      </geometry>
    </visual>
  </link>
  <link name="custom_hallway__Wall_64">
    <inertial>
      <mass value="0"/>
      <origin rpy="0  0  0" xyz="0  0  0"/>
      <inertia ixx="0" ixy="0" ixz="0" iyy="0" iyz="0" izz="0"/>
    </inertial>
    <collision name="custom_hallway__Wall_64_Collision">
      <origin rpy="0       0       0.50214" xyz="-11.58127   8.06314   1.25"/>
      <geometry>
        <box size="0.840814 0.15 2.5"/>
      </geometry>
    </collision>
    <visual name="custom_hallway__Wall_64_Visual">
      <origin rpy="0       0       0.50214" xyz="-11.58127   8.06314   1.25"/>
      <geometry>
        <box size="0.840814 0.15 2.5"/>
      </geometry>
    </visual>
  </link>
  <link name="custom_hallway__Wall_65">
    <inertial>
      <mass value="0"/>
      <origin rpy="0  0  0" xyz="0  0  0"/>
      <inertia ixx="0" ixy="0" ixz="0" iyy="0" iyz="0" izz="0"/>
    </inertial>
    <collision name="custom_hallway__Wall_65_Collision">
      <origin rpy="0  0  0" xyz="-10.3535    8.22944   1.25"/>
      <geometry>
        <box size="2 0.15 2.5"/>
      </geometry>
    </collision>
    <visual name="custom_hallway__Wall_65_Visual">
      <origin rpy="0  0  0" xyz="-10.3535    8.22944   1.25"/>
      <geometry>
        <box size="2 0.15 2.5"/>
      </geometry>
    </visual>
  </link>
  <link name="custom_hallway__Wall_66">
    <inertial>
      <mass value="0"/>
      <origin rpy="0  0  0" xyz="0  0  0"/>
      <inertia ixx="0" ixy="0" ixz="0" iyy="0" iyz="0" izz="0"/>
    </inertial>
    <collision name="custom_hallway__Wall_66_Collision">
      <origin rpy="0       0      -0.59014" xyz="-9.20454  8.07944  1.25"/>
      <geometry>
        <box size="0.689098 0.15 2.5"/>
      </geometry>
    </collision>
    <visual name="custom_hallway__Wall_66_Visual">
      <origin rpy="0       0      -0.59014" xyz="-9.20454  8.07944  1.25"/>
      <geometry>
        <box size="0.689098 0.15 2.5"/>
      </geometry>
    </visual>
  </link>
  <link name="custom_hallway__Wall_68">
    <inertial>
      <mass value="0"/>
      <origin rpy="0  0  0" xyz="0  0  0"/>
      <inertia ixx="0" ixy="0" ixz="0" iyy="0" iyz="0" izz="0"/>
    </inertial>
    <collision name="custom_hallway__Wall_68_Collision">
      <origin rpy="0       0       0.52359" xyz="-6.01253  8.14194  1.25"/>
      <geometry>
        <box size="1 0.15 2.5"/>
      </geometry>
    </collision>
    <visual name="custom_hallway__Wall_68_Visual">
      <origin rpy="0       0       0.52359" xyz="-6.01253  8.14194  1.25"/>
      <geometry>
        <box size="1 0.15 2.5"/>
      </geometry>
    </visual>
  </link>
  <link name="custom_hallway__Wall_69">
    <inertial>
      <mass value="0"/>
      <origin rpy="0  0  0" xyz="0  0  0"/>
      <inertia ixx="0" ixy="0" ixz="0" iyy="0" iyz="0" izz="0"/>
    </inertial>
    <collision name="custom_hallway__Wall_69_Collision">
      <origin rpy="0  0  0" xyz="-4.59446  8.35444  1.25"/>
      <geometry>
        <box size="2.25 0.15 2.5"/>
      </geometry>
    </collision>
    <visual name="custom_hallway__Wall_69_Visual">
      <origin rpy="0  0  0" xyz="-4.59446  8.35444  1.25"/>
      <geometry>
        <box size="2.25 0.15 2.5"/>
      </geometry>
    </visual>
  </link>
  <link name="custom_hallway__Wall_7">
    <inertial>
      <mass value="0"/>
      <origin rpy="0  0  0" xyz="0  0  0"/>
      <inertia ixx="0" ixy="0" ixz="0" iyy="0" iyz="0" izz="0"/>
    </inertial>
    <collision name="custom_hallway__Wall_7_Collision">
      <origin rpy="0       0       1.56761" xyz="5.71223 -7.32807  1.25"/>
      <geometry>
        <box size="2.50001 0.15 2.5"/>
      </geometry>
    </collision>
    <visual name="custom_hallway__Wall_7_Visual">
      <origin rpy="0       0       1.56761" xyz="5.71223 -7.32807  1.25"/>
      <geometry>
        <box size="2.50001 0.15 2.5"/>
      </geometry>
    </visual>
  </link>
  <link name="custom_hallway__Wall_70">
    <inertial>
      <mass value="0"/>
      <origin rpy="0  0  0" xyz="0  0  0"/>
      <inertia ixx="0" ixy="0" ixz="0" iyy="0" iyz="0" izz="0"/>
    </inertial>
    <collision name="custom_hallway__Wall_70_Collision">
      <origin rpy="0       0      -0.52359" xyz="-3.1764   8.14194  1.25"/>
      <geometry>
        <box size="1 0.15 2.5"/>
      </geometry>
    </collision>
    <visual name="custom_hallway__Wall_70_Visual">
      <origin rpy="0       0      -0.52359" xyz="-3.1764   8.14194  1.25"/>
      <geometry>
        <box size="1 0.15 2.5"/>
      </geometry>
    </visual>
  </link>
  <link name="custom_hallway__Wall_71">
    <inertial>
      <mass value="0"/>
      <origin rpy="0  0  0" xyz="0  0  0"/>
      <inertia ixx="0" ixy="0" ixz="0" iyy="0" iyz="0" izz="0"/>
    </inertial>
    <collision name="custom_hallway__Wall_71_Collision">
      <origin rpy="0  0  0" xyz="-1.88334  7.92944  1.25"/>
      <geometry>
        <box size="2 0.15 2.5"/>
      </geometry>
    </collision>
    <visual name="custom_hallway__Wall_71_Visual">
      <origin rpy="0  0  0" xyz="-1.88334  7.92944  1.25"/>
      <geometry>
        <box size="2 0.15 2.5"/>
      </geometry>
    </visual>
  </link>
  <link name="custom_hallway__Wall_72">
    <inertial>
      <mass value="0"/>
      <origin rpy="0  0  0" xyz="0  0  0"/>
      <inertia ixx="0" ixy="0" ixz="0" iyy="0" iyz="0" izz="0"/>
    </inertial>
    <collision name="custom_hallway__Wall_72_Collision">
      <origin rpy="0       0       0.52359" xyz="-0.37377  8.26694  1.25"/>
      <geometry>
        <box size="1.5 0.15 2.5"/>
      </geometry>
    </collision>
    <visual name="custom_hallway__Wall_72_Visual">
      <origin rpy="0       0       0.52359" xyz="-0.37377  8.26694  1.25"/>
      <geometry>
        <box size="1.5 0.15 2.5"/>
      </geometry>
    </visual>
  </link>
  <link name="custom_hallway__Wall_73">
    <inertial>
      <mass value="0"/>
      <origin rpy="0  0  0" xyz="0  0  0"/>
      <inertia ixx="0" ixy="0" ixz="0" iyy="0" iyz="0" izz="0"/>
    </inertial>
    <collision name="custom_hallway__Wall_73_Collision">
      <origin rpy="0  0  0" xyz="0.88579  8.60444  1.25"/>
      <geometry>
        <box size="1.5 0.15 2.5"/>
      </geometry>
    </collision>
    <visual name="custom_hallway__Wall_73_Visual">
      <origin rpy="0  0  0" xyz="0.88579  8.60444  1.25"/>
      <geometry>
        <box size="1.5 0.15 2.5"/>
      </geometry>
    </visual>
  </link>
  <link name="custom_hallway__Wall_74">
    <inertial>
      <mass value="0"/>
      <origin rpy="0  0  0" xyz="0  0  0"/>
      <inertia ixx="0" ixy="0" ixz="0" iyy="0" iyz="0" izz="0"/>
    </inertial>
    <collision name="custom_hallway__Wall_74_Collision">
      <origin rpy="0       0      -0.59065" xyz="2.08838  8.25064  1.25"/>
      <geometry>
        <box size="1.42041 0.15 2.5"/>
      </geometry>
    </collision>
    <visual name="custom_hallway__Wall_74_Visual">
      <origin rpy="0       0      -0.59065" xyz="2.08838  8.25064  1.25"/>
      <geometry>
        <box size="1.42041 0.15 2.5"/>
      </geometry>
    </visual>
  </link>
  <link name="custom_hallway__Wall_76">
    <inertial>
      <mass value="0"/>
      <origin rpy="0  0  0" xyz="0  0  0"/>
      <inertia ixx="0" ixy="0" ixz="0" iyy="0" iyz="0" izz="0"/>
    </inertial>
    <collision name="custom_hallway__Wall_76_Collision">
      <origin rpy="0       0       0.01488" xyz="-13.24312   7.87674   1.25"/>
      <geometry>
        <box size="2.86852 0.15 2.5"/>
      </geometry>
    </collision>
    <visual name="custom_hallway__Wall_76_Visual">
      <origin rpy="0       0       0.01488" xyz="-13.24312   7.87674   1.25"/>
      <geometry>
        <box size="2.86852 0.15 2.5"/>
      </geometry>
    </visual>
  </link>
  <link name="custom_hallway__Wall_78">
    <inertial>
      <mass value="0"/>
      <origin rpy="0  0  0" xyz="0  0  0"/>
      <inertia ixx="0" ixy="0" ixz="0" iyy="0" iyz="0" izz="0"/>
    </inertial>
    <collision name="custom_hallway__Wall_78_Collision">
      <origin rpy="0  0  0" xyz="-7.68059  7.92944  1.25"/>
      <geometry>
        <box size="2.75 0.15 2.5"/>
      </geometry>
    </collision>
    <visual name="custom_hallway__Wall_78_Visual">
      <origin rpy="0  0  0" xyz="-7.68059  7.92944  1.25"/>
      <geometry>
        <box size="2.75 0.15 2.5"/>
      </geometry>
    </visual>
  </link>
  <link name="custom_hallway__Wall_80">
    <inertial>
      <mass value="0"/>
      <origin rpy="0  0  0" xyz="0  0  0"/>
      <inertia ixx="0" ixy="0" ixz="0" iyy="0" iyz="0" izz="0"/>
    </inertial>
    <collision name="custom_hallway__Wall_80_Collision">
      <origin rpy="0  0  0" xyz="-8.68403  3.69693  1.25"/>
      <geometry>
        <box size="1.75 0.15 2.5"/>
      </geometry>
    </collision>
    <visual name="custom_hallway__Wall_80_Visual">
      <origin rpy="0  0  0" xyz="-8.68403  3.69693  1.25"/>
      <geometry>
        <box size="1.75 0.15 2.5"/>
      </geometry>
    </visual>
  </link>
  <link name="custom_hallway__Wall_82">
    <inertial>
      <mass value="0"/>
      <origin rpy="0  0  0" xyz="0  0  0"/>
      <inertia ixx="0" ixy="0" ixz="0" iyy="0" iyz="0" izz="0"/>
    </inertial>
    <collision name="custom_hallway__Wall_82_Collision">
      <origin rpy="0  0  0" xyz="-1.91103  3.69693  1.25"/>
      <geometry>
        <box size="1.75 0.15 2.5"/>
      </geometry>
    </collision>
    <visual name="custom_hallway__Wall_82_Visual">
      <origin rpy="0  0  0" xyz="-1.91103  3.69693  1.25"/>
      <geometry>
        <box size="1.75 0.15 2.5"/>
      </geometry>
    </visual>
  </link>
  <link name="custom_hallway__Wall_84">
    <inertial>
      <mass value="0"/>
      <origin rpy="0  0  0" xyz="0  0  0"/>
      <inertia ixx="0" ixy="0" ixz="0" iyy="0" iyz="0" izz="0"/>
    </inertial>
    <collision name="custom_hallway__Wall_84_Collision">
      <origin rpy="0       0      -2.35618" xyz="-15.05492   6.50618   1.25"/>
      <geometry>
        <box size="1.5 0.15 2.5"/>
      </geometry>
    </collision>
    <visual name="custom_hallway__Wall_84_Visual">
      <origin rpy="0       0      -2.35618" xyz="-15.05492   6.50618   1.25"/>
      <geometry>
        <box size="1.5 0.15 2.5"/>
      </geometry>
    </visual>
  </link>
  <link name="custom_hallway__Wall_85">
    <inertial>
      <mass value="0"/>
      <origin rpy="0  0  0" xyz="0  0  0"/>
      <inertia ixx="0" ixy="0" ixz="0" iyy="0" iyz="0" izz="0"/>
    </inertial>
    <collision name="custom_hallway__Wall_85_Collision">
      <origin rpy="0      0     -1.5708" xyz="-15.53222   5.10388   1.25"/>
      <geometry>
        <box size="2 0.15 2.5"/>
      </geometry>
    </collision>
    <visual name="custom_hallway__Wall_85_Visual">
      <origin rpy="0      0     -1.5708" xyz="-15.53222   5.10388   1.25"/>
      <geometry>
        <box size="2 0.15 2.5"/>
      </geometry>
    </visual>
  </link>
  <link name="custom_hallway__Wall_86">
    <inertial>
      <mass value="0"/>
      <origin rpy="0  0  0" xyz="0  0  0"/>
      <inertia ixx="0" ixy="0" ixz="0" iyy="0" iyz="0" izz="0"/>
    </inertial>
    <collision name="custom_hallway__Wall_86_Collision">
      <origin rpy="0       0      -0.52359" xyz="-15.05592   3.90388   1.25"/>
      <geometry>
        <box size="1.25 0.15 2.5"/>
      </geometry>
    </collision>
    <visual name="custom_hallway__Wall_86_Visual">
      <origin rpy="0       0      -0.52359" xyz="-15.05592   3.90388   1.25"/>
      <geometry>
        <box size="1.25 0.15 2.5"/>
      </geometry>
    </visual>
  </link>
  <link name="custom_hallway__Wall_87">
    <inertial>
      <mass value="0"/>
      <origin rpy="0  0  0" xyz="0  0  0"/>
      <inertia ixx="0" ixy="0" ixz="0" iyy="0" iyz="0" izz="0"/>
    </inertial>
    <collision name="custom_hallway__Wall_87_Collision">
      <origin rpy="0      0     -1.5708" xyz="-14.57962   1.20388   1.25"/>
      <geometry>
        <box size="5 0.15 2.5"/>
      </geometry>
    </collision>
    <visual name="custom_hallway__Wall_87_Visual">
      <origin rpy="0      0     -1.5708" xyz="-14.57962   1.20388   1.25"/>
      <geometry>
        <box size="5 0.15 2.5"/>
      </geometry>
    </visual>
  </link>
  <link name="custom_hallway__Wall_88">
    <inertial>
      <mass value="0"/>
      <origin rpy="0  0  0" xyz="0  0  0"/>
      <inertia ixx="0" ixy="0" ixz="0" iyy="0" iyz="0" izz="0"/>
    </inertial>
    <collision name="custom_hallway__Wall_88_Collision">
      <origin rpy="0       0      -2.35618" xyz="-14.96852  -1.61002   1.25"/>
      <geometry>
        <box size="1.25 0.15 2.5"/>
      </geometry>
    </collision>
    <visual name="custom_hallway__Wall_88_Visual">
      <origin rpy="0       0      -2.35618" xyz="-14.96852  -1.61002   1.25"/>
      <geometry>
        <box size="1.25 0.15 2.5"/>
      </geometry>
    </visual>
  </link>
  <link name="custom_hallway__Wall_89">
    <inertial>
      <mass value="0"/>
      <origin rpy="0  0  0" xyz="0  0  0"/>
      <inertia ixx="0" ixy="0" ixz="0" iyy="0" iyz="0" izz="0"/>
    </inertial>
    <collision name="custom_hallway__Wall_89_Collision">
      <origin rpy="0      0     -1.5708" xyz="-15.35742  -2.92393   1.25"/>
      <geometry>
        <box size="2 0.15 2.5"/>
      </geometry>
    </collision>
    <visual name="custom_hallway__Wall_89_Visual">
      <origin rpy="0      0     -1.5708" xyz="-15.35742  -2.92393   1.25"/>
      <geometry>
        <box size="2 0.15 2.5"/>
      </geometry>
    </visual>
  </link>
  <link name="custom_hallway__Wall_90">
    <inertial>
      <mass value="0"/>
      <origin rpy="0  0  0" xyz="0  0  0"/>
      <inertia ixx="0" ixy="0" ixz="0" iyy="0" iyz="0" izz="0"/>
    </inertial>
    <collision name="custom_hallway__Wall_90_Collision">
      <origin rpy="0       0      -0.52359" xyz="-14.98942  -4.06142   1.25"/>
      <geometry>
        <box size="1 0.15 2.5"/>
      </geometry>
    </collision>
    <visual name="custom_hallway__Wall_90_Visual">
      <origin rpy="0       0      -0.52359" xyz="-14.98942  -4.06142   1.25"/>
      <geometry>
        <box size="1 0.15 2.5"/>
      </geometry>
    </visual>
  </link>
  <link name="custom_hallway__Wall_91">
    <inertial>
      <mass value="0"/>
      <origin rpy="0  0  0" xyz="0  0  0"/>
      <inertia ixx="0" ixy="0" ixz="0" iyy="0" iyz="0" izz="0"/>
    </inertial>
    <collision name="custom_hallway__Wall_91_Collision">
      <origin rpy="0      0     -1.5708" xyz="-14.62132  -6.32393   1.25"/>
      <geometry>
        <box size="4.25 0.15 2.5"/>
      </geometry>
    </collision>
    <visual name="custom_hallway__Wall_91_Visual">
      <origin rpy="0      0     -1.5708" xyz="-14.62132  -6.32393   1.25"/>
      <geometry>
        <box size="4.25 0.15 2.5"/>
      </geometry>
    </visual>
  </link>
  <link name="custom_hallway__Wall_92">
    <inertial>
      <mass value="0"/>
      <origin rpy="0  0  0" xyz="0  0  0"/>
      <inertia ixx="0" ixy="0" ixz="0" iyy="0" iyz="0" izz="0"/>
    </inertial>
    <collision name="custom_hallway__Wall_92_Collision">
      <origin rpy="0       0      -2.09439" xyz="-15.02132  -9.06675   1.25"/>
      <geometry>
        <box size="1.75 0.15 2.5"/>
      </geometry>
    </collision>
    <visual name="custom_hallway__Wall_92_Visual">
      <origin rpy="0       0      -2.09439" xyz="-15.02132  -9.06675   1.25"/>
      <geometry>
        <box size="1.75 0.15 2.5"/>
      </geometry>
    </visual>
  </link>
  <link name="custom_hallway__Wall_93">
    <inertial>
      <mass value="0"/>
      <origin rpy="0  0  0" xyz="0  0  0"/>
      <inertia ixx="0" ixy="0" ixz="0" iyy="0" iyz="0" izz="0"/>
    </inertial>
    <collision name="custom_hallway__Wall_93_Collision">
      <origin rpy="0      0     -1.5708" xyz="-15.42132 -10.55957   1.25"/>
      <geometry>
        <box size="1.75 0.15 2.5"/>
      </geometry>
    </collision>
    <visual name="custom_hallway__Wall_93_Visual">
      <origin rpy="0      0     -1.5708" xyz="-15.42132 -10.55957   1.25"/>
      <geometry>
        <box size="1.75 0.15 2.5"/>
      </geometry>
    </visual>
  </link>
  <link name="custom_hallway__Wall_94">
    <inertial>
      <mass value="0"/>
      <origin rpy="0  0  0" xyz="0  0  0"/>
      <inertia ixx="0" ixy="0" ixz="0" iyy="0" iyz="0" izz="0"/>
    </inertial>
    <collision name="custom_hallway__Wall_94_Collision">
      <origin rpy="0       0      -0.81509" xyz="-14.98502 -11.82257   1.25"/>
      <geometry>
        <box size="1.42233 0.15 2.5"/>
      </geometry>
    </collision>
    <visual name="custom_hallway__Wall_94_Visual">
      <origin rpy="0       0      -0.81509" xyz="-14.98502 -11.82257   1.25"/>
      <geometry>
        <box size="1.42233 0.15 2.5"/>
      </geometry>
    </visual>
  </link>
  <link name="custom_hallway__Wall_96">
    <inertial>
      <mass value="0"/>
      <origin rpy="0  0  0" xyz="0  0  0"/>
      <inertia ixx="0" ixy="0" ixz="0" iyy="0" iyz="0" izz="0"/>
    </inertial>
    <collision name="custom_hallway__Wall_96_Collision">
      <origin rpy="0       0      -0.52359" xyz="-9.20787  2.51018  1.25"/>
      <geometry>
        <box size="0.75 0.15 2.5"/>
      </geometry>
    </collision>
    <visual name="custom_hallway__Wall_96_Visual">
      <origin rpy="0       0      -0.52359" xyz="-9.20787  2.51018  1.25"/>
      <geometry>
        <box size="0.75 0.15 2.5"/>
      </geometry>
    </visual>
  </link>
  <link name="custom_hallway__Wall_97">
    <inertial>
      <mass value="0"/>
      <origin rpy="0  0  0" xyz="0  0  0"/>
      <inertia ixx="0" ixy="0" ixz="0" iyy="0" iyz="0" izz="0"/>
    </inertial>
    <collision name="custom_hallway__Wall_97_Collision">
      <origin rpy="0      0     -1.5708" xyz="-8.94807  1.43518  1.25"/>
      <geometry>
        <box size="2 0.15 2.5"/>
      </geometry>
    </collision>
    <visual name="custom_hallway__Wall_97_Visual">
      <origin rpy="0      0     -1.5708" xyz="-8.94807  1.43518  1.25"/>
      <geometry>
        <box size="2 0.15 2.5"/>
      </geometry>
    </visual>
  </link>
  <link name="custom_hallway__Wall_98">
    <inertial>
      <mass value="0"/>
      <origin rpy="0  0  0" xyz="0  0  0"/>
      <inertia ixx="0" ixy="0" ixz="0" iyy="0" iyz="0" izz="0"/>
    </inertial>
    <collision name="custom_hallway__Wall_98_Collision">
      <origin rpy="0       0      -2.09439" xyz="-9.16058  0.14212  1.25"/>
      <geometry>
        <box size="1 0.15 2.5"/>
      </geometry>
    </collision>
    <visual name="custom_hallway__Wall_98_Visual">
      <origin rpy="0       0      -2.09439" xyz="-9.16058  0.14212  1.25"/>
      <geometry>
        <box size="1 0.15 2.5"/>
      </geometry>
    </visual>
  </link>
  <link name="custom_hallway__Wall_99">
    <inertial>
      <mass value="0"/>
      <origin rpy="0  0  0" xyz="0  0  0"/>
      <inertia ixx="0" ixy="0" ixz="0" iyy="0" iyz="0" izz="0"/>
    </inertial>
    <collision name="custom_hallway__Wall_99_Collision">
      <origin rpy="0      0     -1.5708" xyz="-9.37308 -1.52593  1.25"/>
      <geometry>
        <box size="2.75 0.15 2.5"/>
      </geometry>
    </collision>
    <visual name="custom_hallway__Wall_99_Visual">
      <origin rpy="0      0     -1.5708" xyz="-9.37308 -1.52593  1.25"/>
      <geometry>
        <box size="2.75 0.15 2.5"/>
      </geometry>
    </visual>
  </link>



<joint name="joint2" type="fixed">
  <parent link="custom_hallway__Wall_100"/>
  <child link="custom_hallway__Wall_101"/>
</joint>

<joint name="joint3" type="fixed">
  <parent link="custom_hallway__Wall_100"/>
  <child link="custom_hallway__Wall_102"/>
</joint>

<joint name="joint4" type="fixed">
  <parent link="custom_hallway__Wall_100"/>
  <child link="custom_hallway__Wall_103"/>
</joint>

<joint name="joint5" type="fixed">
  <parent link="custom_hallway__Wall_100"/>
  <child link="custom_hallway__Wall_105"/>
</joint>

<joint name="joint6" type="fixed">
  <parent link="custom_hallway__Wall_100"/>
  <child link="custom_hallway__Wall_107"/>
</joint>

<joint name="joint7" type="fixed">
  <parent link="custom_hallway__Wall_100"/>
  <child link="custom_hallway__Wall_109"/>
</joint>

<joint name="joint8" type="fixed">
  <parent link="custom_hallway__Wall_100"/>
  <child link="custom_hallway__Wall_111"/>
</joint>

<joint name="joint9" type="fixed">
  <parent link="custom_hallway__Wall_100"/>
  <child link="custom_hallway__Wall_112"/>
</joint>

<joint name="joint10" type="fixed">
  <parent link="custom_hallway__Wall_100"/>
  <child link="custom_hallway__Wall_113"/>
</joint>

<joint name="joint11" type="fixed">
  <parent link="custom_hallway__Wall_100"/>
  <child link="custom_hallway__Wall_114"/>
</joint>

<joint name="joint12" type="fixed">
  <parent link="custom_hallway__Wall_100"/>
  <child link="custom_hallway__Wall_115"/>
</joint>

<joint name="joint13" type="fixed">
  <parent link="custom_hallway__Wall_100"/>
  <child link="custom_hallway__Wall_116"/>
</joint>

<joint name="joint14" type="fixed">
  <parent link="custom_hallway__Wall_100"/>
  <child link="custom_hallway__Wall_117"/>
</joint>

<joint name="joint15" type="fixed">
  <parent link="custom_hallway__Wall_100"/>
  <child link="custom_hallway__Wall_118"/>
</joint>

<joint name="joint16" type="fixed">
  <parent link="custom_hallway__Wall_100"/>
  <child link="custom_hallway__Wall_119"/>
</joint>

<joint name="joint17" type="fixed">
  <parent link="custom_hallway__Wall_100"/>
  <child link="custom_hallway__Wall_121"/>
</joint>

<joint name="joint18" type="fixed">
  <parent link="custom_hallway__Wall_100"/>
  <child link="custom_hallway__Wall_122"/>
</joint>

<joint name="joint19" type="fixed">
  <parent link="custom_hallway__Wall_100"/>
  <child link="custom_hallway__Wall_123"/>
</joint>

<joint name="joint20" type="fixed">
  <parent link="custom_hallway__Wall_100"/>
  <child link="custom_hallway__Wall_124"/>
</joint>

<joint name="joint21" type="fixed">
  <parent link="custom_hallway__Wall_100"/>
  <child link="custom_hallway__Wall_125"/>
</joint>

<joint name="joint22" type="fixed">
  <parent link="custom_hallway__Wall_100"/>
  <child link="custom_hallway__Wall_126"/>
</joint>

<joint name="joint23" type="fixed">
  <parent link="custom_hallway__Wall_100"/>
  <child link="custom_hallway__Wall_127"/>
</joint>

<joint name="joint24" type="fixed">
  <parent link="custom_hallway__Wall_100"/>
  <child link="custom_hallway__Wall_128"/>
</joint>

<joint name="joint25" type="fixed">
  <parent link="custom_hallway__Wall_100"/>
  <child link="custom_hallway__Wall_129"/>
</joint>

<joint name="joint26" type="fixed">
  <parent link="custom_hallway__Wall_100"/>
  <child link="custom_hallway__Wall_130"/>
</joint>

<joint name="joint27" type="fixed">
  <parent link="custom_hallway__Wall_100"/>
  <child link="custom_hallway__Wall_131"/>
</joint>

<joint name="joint28" type="fixed">
  <parent link="custom_hallway__Wall_100"/>
  <child link="custom_hallway__Wall_132"/>
</joint>

<joint name="joint29" type="fixed">
  <parent link="custom_hallway__Wall_100"/>
  <child link="custom_hallway__Wall_133"/>
</joint>

<joint name="joint30" type="fixed">
  <parent link="custom_hallway__Wall_100"/>
  <child link="custom_hallway__Wall_134"/>
</joint>

<joint name="joint31" type="fixed">
  <parent link="custom_hallway__Wall_100"/>
  <child link="custom_hallway__Wall_135"/>
</joint>

<joint name="joint32" type="fixed">
  <parent link="custom_hallway__Wall_100"/>
  <child link="custom_hallway__Wall_136"/>
</joint>

<joint name="joint33" type="fixed">
  <parent link="custom_hallway__Wall_100"/>
  <child link="custom_hallway__Wall_137"/>
</joint>

<joint name="joint34" type="fixed">
  <parent link="custom_hallway__Wall_100"/>
  <child link="custom_hallway__Wall_138"/>
</joint>

<joint name="joint35" type="fixed">
  <parent link="custom_hallway__Wall_100"/>
  <child link="custom_hallway__Wall_139"/>
</joint>

<joint name="joint36" type="fixed">
  <parent link="custom_hallway__Wall_100"/>
  <child link="custom_hallway__Wall_140"/>
</joint>

<joint name="joint37" type="fixed">
  <parent link="custom_hallway__Wall_100"/>
  <child link="custom_hallway__Wall_141"/>
</joint>

<joint name="joint38" type="fixed">
  <parent link="custom_hallway__Wall_100"/>
  <child link="custom_hallway__Wall_142"/>
</joint>

<joint name="joint39" type="fixed">
  <parent link="custom_hallway__Wall_100"/>
  <child link="custom_hallway__Wall_143"/>
</joint>

<joint name="joint40" type="fixed">
  <parent link="custom_hallway__Wall_100"/>
  <child link="custom_hallway__Wall_144"/>
</joint>

<joint name="joint41" type="fixed">
  <parent link="custom_hallway__Wall_100"/>
  <child link="custom_hallway__Wall_145"/>
</joint>

<joint name="joint42" type="fixed">
  <parent link="custom_hallway__Wall_100"/>
  <child link="custom_hallway__Wall_147"/>
</joint>

<joint name="joint43" type="fixed">
  <parent link="custom_hallway__Wall_100"/>
  <child link="custom_hallway__Wall_21"/>
</joint>

<joint name="joint44" type="fixed">
  <parent link="custom_hallway__Wall_100"/>
  <child link="custom_hallway__Wall_22"/>
</joint>

<joint name="joint45" type="fixed">
  <parent link="custom_hallway__Wall_100"/>
  <child link="custom_hallway__Wall_23"/>
</joint>

<joint name="joint46" type="fixed">
  <parent link="custom_hallway__Wall_100"/>
  <child link="custom_hallway__Wall_25"/>
</joint>

<joint name="joint47" type="fixed">
  <parent link="custom_hallway__Wall_100"/>
  <child link="custom_hallway__Wall_27"/>
</joint>

<joint name="joint48" type="fixed">
  <parent link="custom_hallway__Wall_100"/>
  <child link="custom_hallway__Wall_29"/>
</joint>

<joint name="joint49" type="fixed">
  <parent link="custom_hallway__Wall_100"/>
  <child link="custom_hallway__Wall_30"/>
</joint>

<joint name="joint50" type="fixed">
  <parent link="custom_hallway__Wall_100"/>
  <child link="custom_hallway__Wall_31"/>
</joint>

<joint name="joint51" type="fixed">
  <parent link="custom_hallway__Wall_100"/>
  <child link="custom_hallway__Wall_33"/>
</joint>

<joint name="joint52" type="fixed">
  <parent link="custom_hallway__Wall_100"/>
  <child link="custom_hallway__Wall_35"/>
</joint>

<joint name="joint53" type="fixed">
  <parent link="custom_hallway__Wall_100"/>
  <child link="custom_hallway__Wall_36"/>
</joint>

<joint name="joint54" type="fixed">
  <parent link="custom_hallway__Wall_100"/>
  <child link="custom_hallway__Wall_37"/>
</joint>

<joint name="joint55" type="fixed">
  <parent link="custom_hallway__Wall_100"/>
  <child link="custom_hallway__Wall_39"/>
</joint>

<joint name="joint56" type="fixed">
  <parent link="custom_hallway__Wall_100"/>
  <child link="custom_hallway__Wall_41"/>
</joint>

<joint name="joint57" type="fixed">
  <parent link="custom_hallway__Wall_100"/>
  <child link="custom_hallway__Wall_43"/>
</joint>

<joint name="joint58" type="fixed">
  <parent link="custom_hallway__Wall_100"/>
  <child link="custom_hallway__Wall_44"/>
</joint>

<joint name="joint59" type="fixed">
  <parent link="custom_hallway__Wall_100"/>
  <child link="custom_hallway__Wall_45"/>
</joint>

<joint name="joint60" type="fixed">
  <parent link="custom_hallway__Wall_100"/>
  <child link="custom_hallway__Wall_47"/>
</joint>

<joint name="joint61" type="fixed">
  <parent link="custom_hallway__Wall_100"/>
  <child link="custom_hallway__Wall_48"/>
</joint>

<joint name="joint62" type="fixed">
  <parent link="custom_hallway__Wall_100"/>
  <child link="custom_hallway__Wall_49"/>
</joint>

<joint name="joint63" type="fixed">
  <parent link="custom_hallway__Wall_100"/>
  <child link="custom_hallway__Wall_50"/>
</joint>

<joint name="joint64" type="fixed">
  <parent link="custom_hallway__Wall_100"/>
  <child link="custom_hallway__Wall_51"/>
</joint>

<joint name="joint65" type="fixed">
  <parent link="custom_hallway__Wall_100"/>
  <child link="custom_hallway__Wall_52"/>
</joint>

<joint name="joint66" type="fixed">
  <parent link="custom_hallway__Wall_100"/>
  <child link="custom_hallway__Wall_53"/>
</joint>

<joint name="joint67" type="fixed">
  <parent link="custom_hallway__Wall_100"/>
  <child link="custom_hallway__Wall_54"/>
</joint>

<joint name="joint68" type="fixed">
  <parent link="custom_hallway__Wall_100"/>
  <child link="custom_hallway__Wall_56"/>
</joint>

<joint name="joint69" type="fixed">
  <parent link="custom_hallway__Wall_100"/>
  <child link="custom_hallway__Wall_58"/>
</joint>

<joint name="joint70" type="fixed">
  <parent link="custom_hallway__Wall_100"/>
  <child link="custom_hallway__Wall_60"/>
</joint>

<joint name="joint71" type="fixed">
  <parent link="custom_hallway__Wall_100"/>
  <child link="custom_hallway__Wall_61"/>
</joint>

<joint name="joint72" type="fixed">
  <parent link="custom_hallway__Wall_100"/>
  <child link="custom_hallway__Wall_62"/>
</joint>

<joint name="joint73" type="fixed">
  <parent link="custom_hallway__Wall_100"/>
  <child link="custom_hallway__Wall_64"/>
</joint>

<joint name="joint74" type="fixed">
  <parent link="custom_hallway__Wall_100"/>
  <child link="custom_hallway__Wall_65"/>
</joint>

<joint name="joint75" type="fixed">
  <parent link="custom_hallway__Wall_100"/>
  <child link="custom_hallway__Wall_66"/>
</joint>

<joint name="joint76" type="fixed">
  <parent link="custom_hallway__Wall_100"/>
  <child link="custom_hallway__Wall_68"/>
</joint>

<joint name="joint77" type="fixed">
  <parent link="custom_hallway__Wall_100"/>
  <child link="custom_hallway__Wall_69"/>
</joint>

<joint name="joint78" type="fixed">
  <parent link="custom_hallway__Wall_100"/>
  <child link="custom_hallway__Wall_7"/>
</joint>

<joint name="joint79" type="fixed">
  <parent link="custom_hallway__Wall_100"/>
  <child link="custom_hallway__Wall_70"/>
</joint>

<joint name="joint80" type="fixed">
  <parent link="custom_hallway__Wall_100"/>
  <child link="custom_hallway__Wall_71"/>
</joint>

<joint name="joint81" type="fixed">
  <parent link="custom_hallway__Wall_100"/>
  <child link="custom_hallway__Wall_72"/>
</joint>

<joint name="joint82" type="fixed">
  <parent link="custom_hallway__Wall_100"/>
  <child link="custom_hallway__Wall_73"/>
</joint>

<joint name="joint83" type="fixed">
  <parent link="custom_hallway__Wall_100"/>
  <child link="custom_hallway__Wall_74"/>
</joint>

<joint name="joint84" type="fixed">
  <parent link="custom_hallway__Wall_100"/>
  <child link="custom_hallway__Wall_76"/>
</joint>

<joint name="joint85" type="fixed">
  <parent link="custom_hallway__Wall_100"/>
  <child link="custom_hallway__Wall_78"/>
</joint>

<joint name="joint86" type="fixed">
  <parent link="custom_hallway__Wall_100"/>
  <child link="custom_hallway__Wall_80"/>
</joint>

<joint name="joint87" type="fixed">
  <parent link="custom_hallway__Wall_100"/>
  <child link="custom_hallway__Wall_82"/>
</joint>

<joint name="joint88" type="fixed">
  <parent link="custom_hallway__Wall_100"/>
  <child link="custom_hallway__Wall_84"/>
</joint>

<joint name="joint89" type="fixed">
  <parent link="custom_hallway__Wall_100"/>
  <child link="custom_hallway__Wall_85"/>
</joint>


<joint name="joint91" type="fixed">
  <parent link="custom_hallway__Wall_100"/>
  <child link="custom_hallway__Wall_86"/>
</joint>

<joint name="joint92" type="fixed">
  <parent link="custom_hallway__Wall_100"/>
  <child link="custom_hallway__Wall_87"/>
</joint>

<joint name="joint93" type="fixed">
  <parent link="custom_hallway__Wall_100"/>
  <child link="custom_hallway__Wall_88"/>
</joint>

<joint name="joint94" type="fixed">
  <parent link="custom_hallway__Wall_100"/>
  <child link="custom_hallway__Wall_89"/>
</joint>

<joint name="joint95" type="fixed">
  <parent link="custom_hallway__Wall_100"/>
  <child link="custom_hallway__Wall_90"/>
</joint>

<joint name="joint96" type="fixed">
  <parent link="custom_hallway__Wall_100"/>
  <child link="custom_hallway__Wall_91"/>
</joint>

<joint name="joint97" type="fixed">
  <parent link="custom_hallway__Wall_100"/>
  <child link="custom_hallway__Wall_92"/>
</joint>

<joint name="joint98" type="fixed">
  <parent link="custom_hallway__Wall_100"/>
  <child link="custom_hallway__Wall_93"/>
</joint>

<joint name="joint99" type="fixed">
  <parent link="custom_hallway__Wall_100"/>
  <child link="custom_hallway__Wall_94"/>
</joint>

<joint name="joint100" type="fixed">
  <parent link="custom_hallway__Wall_100"/>
  <child link="custom_hallway__Wall_96"/>
</joint>

<joint name="joint101" type="fixed">
  <parent link="custom_hallway__Wall_100"/>
  <child link="custom_hallway__Wall_97"/>
</joint>


<joint name="joint102" type="fixed">
  <parent link="custom_hallway__Wall_100"/>
  <child link="custom_hallway__Wall_98"/>
</joint>

<joint name="joint103" type="fixed">
  <parent link="custom_hallway__Wall_100"/>
  <child link="custom_hallway__Wall_99"/>
</joint>


</robot>
